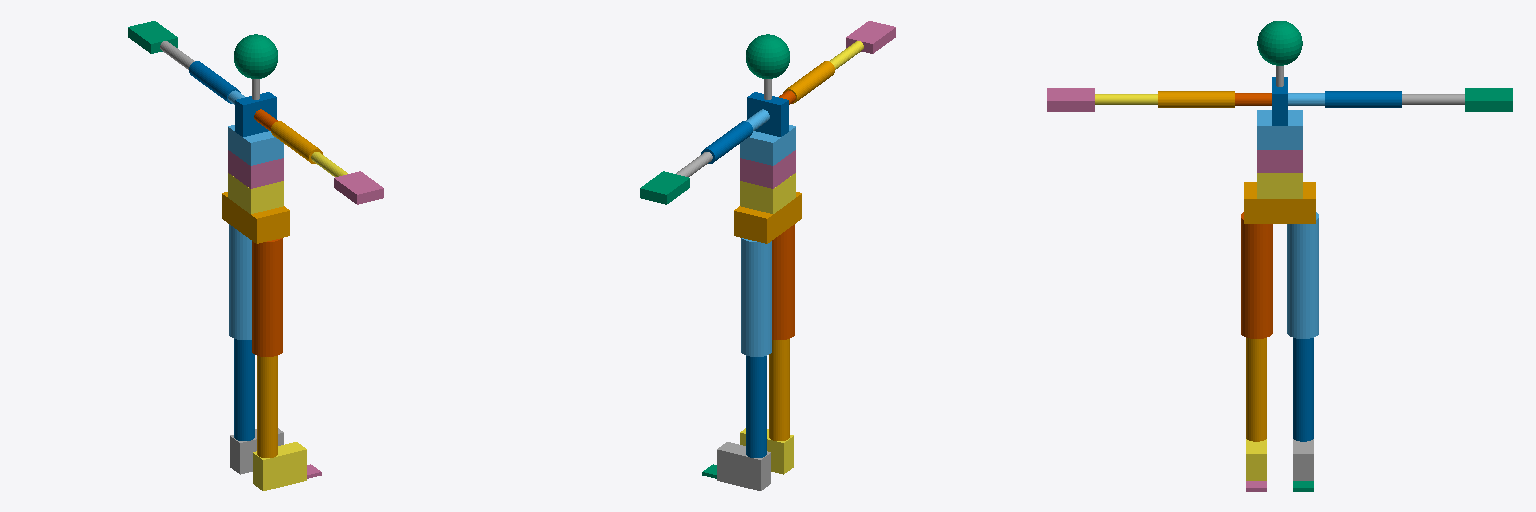
--- What the picture shows (computed from the rendered views, not written in the file) ---
Views: 3 orthographic renders of the robot side by side, from view 1: azimuth 30°, elevation 25°; view 2: azimuth 150°, elevation 25°; view 3: azimuth 270°, elevation 25°.
Model XSensStyleModel_template with 67 links and 66 joints (66 revolute), rooted at Pelvis, posed all joints at 0.
Visible links, largest first — view 1: RightUpperLeg, LeftUpperLeg, RightLowerLeg, LeftLowerLeg, RightFoot, Pelvis, Head, T12, L5, L3, T8, RightHand (+4 smaller); view 2: LeftUpperLeg, RightUpperLeg, LeftLowerLeg, RightLowerLeg, LeftFoot, Pelvis, Head, T12, L5, L3, T8, LeftHand (+4 smaller); view 3: RightUpperLeg, LeftUpperLeg, Pelvis, RightLowerLeg, LeftLowerLeg, Head, T12, RightUpperArm, LeftUpperArm, L5, RightHand, LeftHand (+6 smaller).
Link boxes in pixels (box(x1,y1,x2,y2)): RightUpperLeg: box(252, 238, 282, 356); LeftUpperLeg: box(229, 224, 251, 339); RightLowerLeg: box(257, 356, 277, 457); LeftLowerLeg: box(234, 339, 254, 440); RightFoot: box(253, 442, 306, 490); Pelvis: box(222, 192, 289, 243); Head: box(234, 34, 277, 78); T12: box(228, 125, 283, 165); L5: box(228, 173, 283, 213); L3: box(228, 150, 283, 188); T8: box(235, 92, 276, 136); RightHand: box(334, 171, 383, 204); LeftUpperLeg: box(741, 238, 771, 356); RightUpperLeg: box(772, 224, 794, 339); LeftLowerLeg: box(746, 356, 766, 457); RightLowerLeg: box(769, 339, 789, 440); LeftFoot: box(717, 442, 770, 490); Pelvis: box(734, 192, 801, 243); Head: box(746, 34, 789, 78); T12: box(740, 125, 795, 165); L5: box(740, 173, 795, 213); L3: box(740, 150, 795, 188); T8: box(747, 92, 788, 136); LeftHand: box(640, 171, 689, 204); RightUpperLeg: box(1241, 212, 1272, 338); LeftUpperLeg: box(1287, 212, 1318, 338); Pelvis: box(1244, 182, 1315, 223); RightLowerLeg: box(1246, 338, 1266, 441); LeftLowerLeg: box(1293, 338, 1313, 441); Head: box(1257, 21, 1302, 65); T12: box(1257, 110, 1302, 149); RightUpperArm: box(1158, 91, 1234, 107); LeftUpperArm: box(1325, 91, 1401, 107); L5: box(1257, 173, 1302, 198); RightHand: box(1047, 88, 1094, 111); LeftHand: box(1465, 88, 1512, 111).
Bounding box of the posed robot: 0.28 × 1.63 × 1.73 m (x, y, z).
Geometry: primitives only (box / cylinder / sphere), no mesh files.

URDF robot description (XSensStyleModel_template):
<robot name="XSensStyleModel_template">
<!--To open this model with Gazebo replace the null masses, inertias and dimensions of the 'fake links f1 and f2'-->
    <!--LINKS-->
	<!--Link base (1)-->
	<link name="Pelvis">
        <inertial>
            <mass value="4.88"/>
			<!--COM origin wrt pHipOrigin-->
            <origin xyz="0           0    0.050194" rpy="0 0 0" />
            <inertia ixx="0.029296" iyy="0.011839" izz="0.033081" ixy="0" ixz="0" iyz="0"/>
        </inertial>

        <visual>
			<!--box origin wrt pHipOrigin-->
            <origin xyz="0           0    0.050194" rpy="0 0 0" />
            <geometry>
                <box size="0.1386     0.24927    0.099515"/>
            </geometry>
        </visual>

        <collision>
			<!--box origin wrt pHipOrigin-->
            <origin xyz="0           0    0.050194" rpy="0 0 0" />
            <geometry>
                <box size="0.1386     0.24927    0.099515"/>
            </geometry>
        </collision>

    </link>
    <!--Chain from (2) to (7)-->
	<link name="L5_f1">
        <inertial>
            <mass value="0"/>
            <origin xyz="0 0 0" rpy="0 0 0" />
            <inertia ixx="0" iyy="0" izz="0" ixy="0" ixz="0" iyz="0"/>
        </inertial>
    </link>
	<link name="L5_f2">
        <inertial>
            <mass value="0"/>
            <origin xyz="0 0 0" rpy="0 0 0" />
            <inertia ixx="0" iyy="0" izz="0" ixy="0" ixz="0" iyz="0"/>
        </inertial>
    </link>
	<link name="L5">
        <inertial>
            <mass value="6.222"/>
			<!--COM origin wrt jL5S1-->
            <origin xyz="0           0     0.04987" rpy="0 0 0" />
            <inertia ixx="0.019063" iyy="0.015119" izz="0.0002671" ixy="0" ixz="0" iyz="0"/>
        </inertial>

        <visual>
			<!--box origin origin wrt jL5S1-->
            <origin xyz="0           0     0.04987" rpy="0 0 0" />
            <geometry>
                <box size="0.1386     0.16376    0.099741"/>
            </geometry>
        </visual>

        <collision>
			<!--box origin origin wrt jL5S1-->
            <origin xyz="0           0     0.04987" rpy="0 0 0" />
            <geometry>
                <box size="0.1386     0.16376    0.099741"/>
            </geometry>
        </collision>
    </link>
	<link name="L3_f1">
        <inertial>
            <mass value="0"/>
            <origin xyz="0 0 0" rpy="0 0 0" />
            <inertia ixx="0" iyy="0" izz="0" ixy="0" ixz="0" iyz="0"/>
        </inertial>
    </link>
	<link name="L3_f2">
        <inertial>
            <mass value="0"/>
            <origin xyz="0 0 0" rpy="0 0 0" />
            <inertia ixx="0" iyy="0" izz="0" ixy="0" ixz="0" iyz="0"/>
        </inertial>
    </link>
	<link name="L3">
        <inertial>
            <mass value="6.222"/>
			<!--COM origin wrt jL4L3-->
            <origin xyz="0           0    0.045056" rpy="0 0 0" />
            <inertia ixx="0.018115" iyy="0.014171" izz="0.023865" ixy="0" ixz="0" iyz="0"/>
        </inertial>

        <visual>
			<!--box origin origin wrt jL4L3-->
            <origin xyz="0           0    0.045056" rpy="0 0 0" />
            <geometry>
                <box size="0.1386     0.16376    0.090113"/>
            </geometry>
        </visual>

        <collision>
			<!--box origin origin wrt jL4L3-->
            <origin xyz="0           0    0.045056" rpy="0 0 0" />
            <geometry>
                <box size="0.1386     0.16376    0.090113"/>
            </geometry>
        </collision>
    </link>
	<link name="T12_f1">
        <inertial>
            <mass value="0"/>
            <origin xyz="0 0 0" rpy="0 0 0" />
            <inertia ixx="0" iyy="0" izz="0" ixy="0" ixz="0" iyz="0"/>
        </inertial>
    </link>
	<link name="T12_f2">
        <inertial>
            <mass value="0"/>
            <origin xyz="0 0 0" rpy="0 0 0" />
            <inertia ixx="0" iyy="0" izz="0" ixy="0" ixz="0" iyz="0"/>
        </inertial>
    </link>
	<link name="T12">
        <inertial>
            <mass value="6.222"/>
			<!--COM origin wrt jL1T12-->
            <origin xyz="0           0    0.045056" rpy="0 0 0" />
            <inertia ixx="0.018115" iyy="0.014171" izz="0.023865" ixy="0" ixz="0" iyz="0"/>
        </inertial>

        <visual>
			<!--box origin origin wrt jL1T12-->
            <origin xyz="0           0    0.045056" rpy="0 0 0" />
            <geometry>
                <box size="0.1386     0.16376    0.090113"/>
            </geometry>
        </visual>

        <collision>
			<!--box origin origin wrt jL1T12-->
            <origin xyz="0           0    0.045056" rpy="0 0 0" />
            <geometry>
                <box size="0.1386     0.16376    0.090113"/>
            </geometry>
        </collision>
    </link>
	<link name="T8_f1">
        <inertial>
            <mass value="0"/>
            <origin xyz="0 0 0" rpy="0 0 0" />
            <inertia ixx="0" iyy="0" izz="0" ixy="0" ixz="0" iyz="0"/>
        </inertial>
    </link>
	<link name="T8_f2">
        <inertial>
            <mass value="0"/>
            <origin xyz="0 0 0" rpy="0 0 0" />
            <inertia ixx="0" iyy="0" izz="0" ixy="0" ixz="0" iyz="0"/>
        </inertial>
    </link>
	<link name="T8">
        <inertial>
            <mass value="2.44"/>
			<!--COM origin wrt jT9T8-->
            <origin xyz="0           0    0.062925" rpy="0 0 0" />
            <inertia ixx="0.0038182" iyy="0.007132" izz="0.0045093" ixy="0" ixz="0" iyz="0"/>
        </inertial>

        <visual>
			<!--box origin wrt jT9T8-->
            <origin xyz="0           0    0.062925" rpy="0 0 0" />
            <geometry>
                <box size="0.1387    0.054218     0.12585"/>
            </geometry>
        </visual>

        <collision>
			<!--box origin wrt jT9T8-->
            <origin xyz="0           0    0.062925" rpy="0 0 0" />
            <geometry>
                <box size="0.1387    0.054218     0.12585"/>
            </geometry>
        </collision>

    </link>
	<link name="Neck_f1">
        <inertial>
            <mass value="0"/>
            <origin xyz="0 0 0" rpy="0 0 0" />
            <inertia ixx="0" iyy="0" izz="0" ixy="0" ixz="0" iyz="0"/>
        </inertial>
    </link>
	<link name="Neck_f2">
        <inertial>
            <mass value="0"/>
            <origin xyz="0 0 0" rpy="0 0 0" />
            <inertia ixx="0" iyy="0" izz="0" ixy="0" ixz="0" iyz="0"/>
        </inertial>
    </link>
	<link name="Neck">
        <inertial>
            <mass value="0.732"/>
			<!--COM origin wrt jT1C7-->
            <origin xyz="0           0    0.041973" rpy="0 0 0" />
            <inertia ixx="0.00056618" iyy="0.00056618" izz="0.00027264" ixy="0" ixz="0" iyz="0"/>
        </inertial>

        <visual>
			<!--box origin wrt jT1C7-->
            <origin xyz="0           0    0.041973" rpy="0 0 0" />
            <geometry>
		<cylinder length="0.083946" radius="0.013647"/>
            </geometry>
        </visual>

        <collision>
			<!--box origin wrt jT1C7-->
            <origin xyz="0           0    0.041973" rpy="0 0 0" />
            <geometry>
                <cylinder length="0.083946" radius="0.013647"/>
            </geometry>
        </collision>
    </link>
	<link name="Head_f1">
        <inertial>
            <mass value="0"/>
            <origin xyz="0 0 0" rpy="0 0 0" />
            <inertia ixx="0" iyy="0" izz="0" ixy="0" ixz="0" iyz="0"/>
        </inertial>
    </link>
	<link name="Head_f2">
        <inertial>
            <mass value="0"/>
            <origin xyz="0 0 0" rpy="0 0 0" />
            <inertia ixx="0" iyy="0" izz="0" ixy="0" ixz="0" iyz="0"/>
        </inertial>
    </link>
	<link name="Head">
        <inertial>
            <mass value="2.196"/>
			<!--COM origin wrt jC1Head-->
            <origin xyz="0           0    0.079896" rpy="0 0 0" />
            <inertia ixx="0.0056072" iyy="0.0056072" izz="0.0056072" ixy="0" ixz="0" iyz="0"/>
        </inertial>

        <visual>
			<!--boc origin wrt jC1Head-->
            <origin xyz="0           0    0.079896" rpy="0 0 0" />
            <geometry>
                <sphere radius="0.079896"/>
            </geometry>
        </visual>

        <collision>
			<!--box origin wrt jC1Head-->
            <origin xyz="0           0    0.079896" rpy="0 0 0" />
            <geometry>
                <sphere radius="0.079896"/>
            </geometry>
        </collision>

    </link>
	<!--Chain from (8) to (11)-->
	<link name="RightShoulder_f1">
        <inertial>
            <mass value="0"/>
            <origin xyz="0 0 0" rpy="0 0 0" />
            <inertia ixx="0" iyy="0" izz="0" ixy="0" ixz="0" iyz="0"/>
        </inertial>
    </link>
	<link name="RightShoulder_f2">
        <inertial>
            <mass value="0"/>
            <origin xyz="0 0 0" rpy="0 0 0" />
            <inertia ixx="0" iyy="0" izz="0" ixy="0" ixz="0" iyz="0"/>
        </inertial>
    </link>
	<link name="RightShoulder">
        <inertial>
            <mass value="1.891"/>
			<!--COM origin wrt jRightC7Shoulder-->
            <origin xyz="0   -0.064947           0" rpy="0 0 0" />
            <inertia ixx="0.0029192" iyy="0.00052075" izz="0.0029192" ixy="0" ixz="0" iyz="0"/>
        </inertial>

        <visual>
			<!--box origin wrt jRightC7Shoulder. RPY rotated of pi/2.-->
            <origin xyz="0   -0.064947           0" rpy="1.5708 0 0" />
            <geometry>
                <cylinder length="0.12989" radius="0.023468"/>
            </geometry>
        </visual>

        <collision>
			<!--box origin wrt jRightC7Shoulder. RPY rotated of pi/2.-->
            <origin xyz="0   -0.064947           0" rpy="1.5708 0 0" />
            <geometry>
                <cylinder length="0.12989" radius="0.023468"/>
            </geometry>
        </collision>

    </link>
	<link name="RightUpperArm_f1">
        <inertial>
            <mass value="0"/>
            <origin xyz="0 0 0" rpy="0 0 0" />
            <inertia ixx="0" iyy="0" izz="0" ixy="0" ixz="0" iyz="0"/>
        </inertial>
    </link>
	<link name="RightUpperArm_f2">
        <inertial>
            <mass value="0"/>
            <origin xyz="0 0 0" rpy="0 0 0" />
            <inertia ixx="0" iyy="0" izz="0" ixy="0" ixz="0" iyz="0"/>
        </inertial>
    </link>
    <link name="RightUpperArm">
        <inertial>
            <mass value="1.83"/>
			<!--COM origin wrt jRightShoulder-->
            <origin xyz="0    -0.13498           0" rpy="0 0 0" />
            <inertia ixx="0.01151" iyy="0.00079302" izz="0.01151" ixy="0" ixz="0" iyz="0"/>
        </inertial>

        <visual>
			<!--box origin wrt jRightShoulder. RPY rotated of pi/2.-->
            <origin xyz="0    -0.13498           0" rpy="1.5708 0 0" />
            <geometry>
                <cylinder length="0.26995" radius="0.02944"/>
            </geometry>
        </visual>

        <collision>
			<!--box origin wrt jRightShoulder. RPY rotated of pi/2.-->
            <origin xyz="0    -0.13498           0" rpy="1.5708 0 0" />
            <geometry>
                <cylinder length="0.26995" radius="0.02944"/>
            </geometry>
        </collision>

    </link>
	<link name="RightForeArm_f1">
        <inertial>
            <mass value="0"/>
            <origin xyz="0 0 0" rpy="0 0 0" />
            <inertia ixx="0" iyy="0" izz="0" ixy="0" ixz="0" iyz="0"/>
        </inertial>
    </link>
	<link name="RightForeArm_f2">
        <inertial>
            <mass value="0"/>
            <origin xyz="0 0 0" rpy="0 0 0" />
            <inertia ixx="0" iyy="0" izz="0" ixy="0" ixz="0" iyz="0"/>
        </inertial>
    </link>
	<link name="RightForeArm">
        <inertial>
            <mass value="1.22"/>
			<!--COM origin wrt jRightElbow-->
            <origin xyz="0    -0.11119           0" rpy="0 0 0" />
            <inertia ixx="0.0051448" iyy="0.00023497" izz="0.0051448" ixy="0" ixz="0" iyz="0"/>
        </inertial>

        <visual>
			<!--box origin wrt jRightElbow. RPY rotated of pi/2.-->
            <origin xyz="0    -0.11119           0" rpy="1.5708 0 0" />
            <geometry>
                <cylinder length="0.22237" radius="0.019626"/>
            </geometry>
        </visual>

        <collision>
			<!--box origin wrt jRightElbow. RPY rotated of pi/2.-->
            <origin xyz="0    -0.11119           0" rpy="1.5708 0 0" />
            <geometry>
                <cylinder length="0.22237" radius="0.019626"/>
            </geometry>
        </collision>

    </link>
	<link name="RightHand_f1">
        <inertial>
            <mass value="0"/>
            <origin xyz="0 0 0" rpy="0 0 0" />
            <inertia ixx="0" iyy="0" izz="0" ixy="0" ixz="0" iyz="0"/>
        </inertial>
    </link>
	<link name="RightHand_f2">
        <inertial>
            <mass value="0"/>
            <origin xyz="0 0 0" rpy="0 0 0" />
            <inertia ixx="0" iyy="0" izz="0" ixy="0" ixz="0" iyz="0"/>
        </inertial>
    </link>
	<link name="RightHand">
        <inertial>
            <mass value="0.366"/>
			<!--COM origin wrt jRightWrist-->
            <origin xyz="0   -0.083494           0" rpy="0 0 0" />
            <inertia ixx="0.0008975" iyy="0.00042499" izz="0.0012285" ixy="0" ixz="0" iyz="0"/>
        </inertial>

        <visual>
			<!--box origin wrt jRightWrist-->
            <origin xyz="0   -0.083494           0" rpy="0 0 0" />
            <geometry>
                <box size="0.11133     0.16699    0.039253"/>
            </geometry>
        </visual>

        <collision>
			<!--box origin wrt jRightWrist-->
            <origin xyz="0   -0.083494           0" rpy="0 0 0" />
            <geometry>
                <box size="0.11133     0.16699    0.039253"/>
            </geometry>
        </collision>

    </link>
	<!--Chain from (12) to (15)-->
	<link name="LeftShoulder_f1">
        <inertial>
            <mass value="0"/>
            <origin xyz="0 0 0" rpy="0 0 0" />
            <inertia ixx="0" iyy="0" izz="0" ixy="0" ixz="0" iyz="0"/>
        </inertial>
    </link>
	<link name="LeftShoulder_f2">
        <inertial>
            <mass value="0"/>
            <origin xyz="0 0 0" rpy="0 0 0" />
            <inertia ixx="0" iyy="0" izz="0" ixy="0" ixz="0" iyz="0"/>
        </inertial>
    </link>
	<link name="LeftShoulder">
        <inertial>
            <mass value="1.891"/>
			<!--COM origin wrt jLeftC7Shoulder-->
            <origin xyz="0    0.064947           0" rpy="0 0 0" />
            <inertia ixx="0.0029192" iyy="0.00052075" izz="0.0029192" ixy="0" ixz="0" iyz="0"/>
        </inertial>

        <visual>
			<!--box origin wrt jLeftC7Shoulder. RPY rotated of pi/2.-->
            <origin xyz="0    0.064947           0" rpy="1.5708 0 0" />
            <geometry>
                <cylinder length="0.12989" radius="0.023468"/>
            </geometry>
        </visual>

        <collision>
			<!--box origin wrt jLeftC7Shoulder. RPY rotated of pi/2.-->
            <origin xyz="0    0.064947           0" rpy="1.5708 0 0" />
            <geometry>
                <cylinder length="0.12989" radius="0.023468"/>
            </geometry>
        </collision>

    </link>
	<link name="LeftUpperArm_f1">
        <inertial>
            <mass value="0"/>
            <origin xyz="0 0 0" rpy="0 0 0" />
            <inertia ixx="0" iyy="0" izz="0" ixy="0" ixz="0" iyz="0"/>
        </inertial>
    </link>
	<link name="LeftUpperArm_f2">
        <inertial>
            <mass value="0"/>
            <origin xyz="0 0 0" rpy="0 0 0" />
            <inertia ixx="0" iyy="0" izz="0" ixy="0" ixz="0" iyz="0"/>
        </inertial>
    </link>
	<link name="LeftUpperArm">
        <inertial>
            <mass value="1.83"/>
			<!--COM origin wrt jLeftShoulder-->
            <origin xyz="0     0.13498           0" rpy="0 0 0" />
            <inertia ixx="0.01151" iyy="0.00079302" izz="0.01151" ixy="0" ixz="0" iyz="0"/>
        </inertial>

        <visual>
			<!--box origin wrt jLeftShoulder. RPY rotated of pi/2.-->
            <origin xyz="0     0.13498           0" rpy="1.5708 0 0" />
            <geometry>
                <cylinder length="0.26995" radius="0.02944"/>
            </geometry>
        </visual>

        <collision>
			<!--box origin wrt jLeftShoulder. RPY rotated of pi/2.-->
            <origin xyz="0     0.13498           0" rpy="1.5708 0 0" />
            <geometry>
                <cylinder length="0.26995" radius="0.02944"/>
            </geometry>
        </collision>

    </link>
	<link name="LeftForeArm_f1">
        <inertial>
            <mass value="0"/>
            <origin xyz="0 0 0" rpy="0 0 0" />
            <inertia ixx="0" iyy="0" izz="0" ixy="0" ixz="0" iyz="0"/>
        </inertial>
    </link>
	<link name="LeftForeArm_f2">
        <inertial>
            <mass value="0"/>
            <origin xyz="0 0 0" rpy="0 0 0" />
            <inertia ixx="0" iyy="0" izz="0" ixy="0" ixz="0" iyz="0"/>
        </inertial>
    </link>
	<link name="LeftForeArm">
        <inertial>
            <mass value="1.22"/>
			<!--COM origin wrt jLeftElbow-->
            <origin xyz="0     0.11119           0" rpy="0 0 0" />
            <inertia ixx="0.0051448" iyy="0.00023497" izz="0.0051448" ixy="0" ixz="0" iyz="0"/>
        </inertial>

        <visual>
			<!--box origin wrt jLeftElbow. RPY rotated of pi/2.-->
            <origin xyz="0     0.11119           0" rpy="1.5708 0 0" />
            <geometry>
                <cylinder length="0.22237" radius="0.019626"/>
            </geometry>
        </visual>

        <collision>
			<!--box origin wrt jLeftElbow. RPY rotated of pi/2.-->
            <origin xyz="0     0.11119           0" rpy="1.5708 0 0" />
            <geometry>
                <cylinder length="0.22237" radius="0.019626"/>
            </geometry>
        </collision>

    </link>
	<link name="LeftHand_f1">
        <inertial>
            <mass value="0"/>
            <origin xyz="0 0 0" rpy="0 0 0" />
            <inertia ixx="0" iyy="0" izz="0" ixy="0" ixz="0" iyz="0"/>
        </inertial>
    </link>
	<link name="LeftHand_f2">
        <inertial>
            <mass value="0"/>
            <origin xyz="0 0 0" rpy="0 0 0" />
            <inertia ixx="0" iyy="0" izz="0" ixy="0" ixz="0" iyz="0"/>
        </inertial>
    </link>
	<link name="LeftHand">
        <inertial>
            <mass value="0.366"/>
			<!--COM origin wrt jLeftWrist-->
            <origin xyz="0    0.083494           0" rpy="0 0 0" />
            <inertia ixx="0.0008975" iyy="0.00042499" izz="0.0012285" ixy="0" ixz="0" iyz="0"/>
        </inertial>

        <visual>
			<!--COM origin wrt jLeftWrist-->
            <origin xyz="0    0.083494           0" rpy="0 0 0" />
            <geometry>
                <box size="0.11133     0.16699    0.039253"/>
            </geometry>
        </visual>

        <collision>
			<!--COM origin wrt jLeftWrist-->
            <origin xyz="0    0.083494           0" rpy="0 0 0" />
            <geometry>
                <box size="0.11133     0.16699    0.039253"/>
            </geometry>
        </collision>

    </link>
	<!--Chain from (16) to (19)-->
	<link name="RightUpperLeg_f1">
        <inertial>
            <mass value="0"/>
            <origin xyz="0 0 0" rpy="0 0 0" />
            <inertia ixx="0" iyy="0" izz="0" ixy="0" ixz="0" iyz="0"/>
        </inertial>
    </link>
	<link name="RightUpperLeg_f2">
        <inertial>
            <mass value="0"/>
            <origin xyz="0 0 0" rpy="0 0 0" />
            <inertia ixx="0" iyy="0" izz="0" ixy="0" ixz="0" iyz="0"/>
        </inertial>
    </link>
    <link name="RightUpperLeg">
        <inertial>
            <mass value="7.625"/>
			<!--COM origin wrt jRightHip-->
            <origin xyz="0           0    -0.22557" rpy="0 0 0" />
            <inertia ixx="0.13545" iyy="0.13545" izz="0.012254" ixy="0" ixz="0" iyz="0"/>
        </inertial>

        <visual>
			<!--box origin wrt jRightHip-->
            <origin xyz="0           0    -0.22557" rpy="0 0 0" />
            <geometry>
                <cylinder length="0.45113" radius="0.056694"/>
            </geometry>
        </visual>

        <collision>
			<!--box origin wrt jRightHip-->
            <origin xyz="0           0    -0.22557" rpy="0 0 0" />
            <geometry>
                <cylinder length="0.45113" radius="0.056694"/>
            </geometry>
        </collision>

    </link>
	<link name="RightLowerLeg_f1">
        <inertial>
            <mass value="0"/>
            <origin xyz="0 0 0" rpy="0 0 0" />
            <inertia ixx="0" iyy="0" izz="0" ixy="0" ixz="0" iyz="0"/>
        </inertial>
    </link>
	<link name="RightLowerLeg_f2">
        <inertial>
            <mass value="0"/>
            <origin xyz="0 0 0" rpy="0 0 0" />
            <inertia ixx="0" iyy="0" izz="0" ixy="0" ixz="0" iyz="0"/>
        </inertial>
    </link>
    <link name="RightLowerLeg">
        <inertial>
            <mass value="2.2265"/>
			<!--COM origin wrt jRightKnee-->
            <origin xyz="0           0    -0.20314" rpy="0 0 0" />
            <inertia ixx="0.031404" iyy="0.031404" izz="0.001557" ixy="0" ixz="0" iyz="0"/>
        </inertial>

        <visual>
			<!--box origin wrt jRightKnee-->
            <origin xyz="0           0    -0.20314" rpy="0 0 0" />
            <geometry>
                <cylinder length="0.40628" radius="0.037398"/>
            </geometry>
        </visual>

        <collision>
			<!--box origin wrt jRightKnee-->
            <origin xyz="0           0    -0.20314" rpy="0 0 0" />
            <geometry>
                <cylinder length="0.40628" radius="0.037398"/>
            </geometry>
        </collision>

    </link>
	<link name="RightFoot_f1">
        <inertial>
            <mass value="0"/>
            <origin xyz="0 0 0" rpy="0 0 0" />
            <inertia ixx="0" iyy="0" izz="0" ixy="0" ixz="0" iyz="0"/>
        </inertial>
    </link>
	<link name="RightFoot_f2">
        <inertial>
            <mass value="0"/>
            <origin xyz="0 0 0" rpy="0 0 0" />
            <inertia ixx="0" iyy="0" izz="0" ixy="0" ixz="0" iyz="0"/>
        </inertial>
    </link>
    <link name="RightFoot">
        <inertial>
            <mass value="0.793"/>
			<!--COM origin wrt jRightAnkle-->
            <origin xyz="0.050643           0   -0.061735" rpy="0 0 0" />
            <inertia ixx="0.0013771" iyy="0.00317" izz="0.0025323" ixy="0" ixz="0" iyz="0"/>
        </inertial>

        <visual>
			<!--box origin wrt jRightAnkle-->
	    	<origin xyz="0.050643           0   -0.061735" rpy="0 0 0" />
            <geometry>
                <box size="0.1809    0.074795     0.12347"/>
            </geometry>
        </visual>

        <collision>
			<!--box origin wrt jRightAnkle-->
		    <origin xyz="0.050643           0   -0.061735" rpy="0 0 0" />
	            <geometry>
	                <box size="0.1809    0.074795     0.12347"/>
	            </geometry>
        </collision>

    </link>
	<link name="RightToe_f1">
        <inertial>
            <mass value="0"/>
            <origin xyz="0 0 0" rpy="0 0 0" />
            <inertia ixx="0" iyy="0" izz="0" ixy="0" ixz="0" iyz="0"/>
        </inertial>
    </link>
	<link name="RightToe_f2">
        <inertial>
            <mass value="0"/>
            <origin xyz="0 0 0" rpy="0 0 0" />
            <inertia ixx="0" iyy="0" izz="0" ixy="0" ixz="0" iyz="0"/>
        </inertial>
    </link>
    <link name="RightToe">
        <inertial>
            <mass value="0.0915"/>
			<!--COM origin wrt jRightBallFoot-->
            <origin xyz="0.029551           0           0" rpy="0 0 0" />
            <inertia ixx="4.419e-05" iyy="2.8167e-05" izz="6.929e-05" ixy="0" ixz="0" iyz="0"/>
        </inertial>

        <visual>
			<!--box origin wrt jRightBallFoot-->
            <origin xyz="0.029551           0           0" rpy="0 0 0" />
            <geometry>
                <box size="0.059101    0.074795    0.014183"/>
            </geometry>
        </visual>

        <collision>
			<!--box origin wrt jRightBallFoot-->
            <origin xyz="0.029551           0           0" rpy="0 0 0" />
            <geometry>
                <box size="0.059101    0.074795    0.014183"/>
            </geometry>
        </collision>
    </link>
	<!--Chain from (20) to (23)-->
	<link name="LeftUpperLeg_f1">
        <inertial>
            <mass value="0"/>
            <origin xyz="0 0 0" rpy="0 0 0" />
            <inertia ixx="0" iyy="0" izz="0" ixy="0" ixz="0" iyz="0"/>
        </inertial>
    </link>
	<link name="LeftUpperLeg_f2">
        <inertial>
            <mass value="0"/>
            <origin xyz="0 0 0" rpy="0 0 0" />
            <inertia ixx="0" iyy="0" izz="0" ixy="0" ixz="0" iyz="0"/>
        </inertial>
    </link>
    <link name="LeftUpperLeg">
        <inertial>
            <mass value="7.625"/>
			<!--COM origin wrt jLeftHip-->
            <origin xyz="0           0    -0.22557" rpy="0 0 0" />
            <inertia ixx="0.13545" iyy="0.13545" izz="0.012254" ixy="0" ixz="0" iyz="0"/>
        </inertial>

        <visual>
			<!--box origin wrt jLeftHip-->
            <origin xyz="0           0    -0.22557" rpy="0 0 0" />
            <geometry>
                <cylinder length="0.45113" radius="-0.056694"/>
            </geometry>
        </visual>

        <collision>
			<!--box origin wrt jLeftHip-->
            <origin xyz="0           0    -0.22557" rpy="0 0 0" />
            <geometry>
                <cylinder length="0.45113" radius="-0.056694"/>
            </geometry>
        </collision>

    </link>
	<link name="LeftLowerLeg_f1">
        <inertial>
            <mass value="0"/>
            <origin xyz="0 0 0" rpy="0 0 0" />
            <inertia ixx="0" iyy="0" izz="0" ixy="0" ixz="0" iyz="0"/>
        </inertial>
    </link>
	<link name="LeftLowerLeg_f2">
        <inertial>
            <mass value="0"/>
            <origin xyz="0 0 0" rpy="0 0 0" />
            <inertia ixx="0" iyy="0" izz="0" ixy="0" ixz="0" iyz="0"/>
        </inertial>
    </link>
	<link name="LeftLowerLeg">
        <inertial>
            <mass value="2.2265"/>
			<!--COM origin wrt jLeftKnee-->
            <origin xyz="0           0    -0.20314" rpy="0 0 0" />
            <inertia ixx="0.031404" iyy="0.031404" izz="0.001557" ixy="0" ixz="0" iyz="0"/>
        </inertial>

        <visual>
			<!--box origin wrt jLeftKnee-->
            <origin xyz="0           0    -0.20314" rpy="0 0 0" />
            <geometry>
		<cylinder length="0.40628" radius="0.037398"/>
            </geometry>
        </visual>

        <collision>
			<!--box origin wrt jLeftKnee-->
            <origin xyz="0           0    -0.20314" rpy="0 0 0" />
            <geometry>
		<cylinder length="0.40628" radius="0.037398"/>
            </geometry>
        </collision>

    </link>
	<link name="LeftFoot_f1">
        <inertial>
            <mass value="0"/>
            <origin xyz="0 0 0" rpy="0 0 0" />
            <inertia ixx="0" iyy="0" izz="0" ixy="0" ixz="0" iyz="0"/>
        </inertial>
    </link>
	<link name="LeftFoot_f2">
        <inertial>
            <mass value="0"/>
            <origin xyz="0 0 0" rpy="0 0 0" />
            <inertia ixx="0" iyy="0" izz="0" ixy="0" ixz="0" iyz="0"/>
        </inertial>
    </link>
    <link name="LeftFoot">
        <inertial>
            <mass value="0.793"/>
			<!--COM origin wrt jLeftAnkle-->
            <origin xyz="0.050643           0   -0.061735" rpy="0 0 0" />
            <inertia ixx="0.0013771" iyy="0.00317" izz="0.0025323" ixy="0" ixz="0" iyz="0"/>
        </inertial>

        <visual>
			<!--box origin wrt jLeftAnkle-->
	   	 	<origin xyz="0.050643           0   -0.061735" rpy="0 0 0" />
            <geometry>
                <box size="0.1809    0.074795     0.12347"/>
            </geometry>
        </visual>

        <collision>
			<!--box origin wrt jLeftAnkle-->
		    <origin xyz="0.050643           0   -0.061735" rpy="0 0 0" />
	            <geometry>
	                <box size="0.1809    0.074795     0.12347"/>
	            </geometry>
        </collision>

    </link>
	<link name="LeftToe_f1">
        <inertial>
            <mass value="0"/>
            <origin xyz="0 0 0" rpy="0 0 0" />
            <inertia ixx="0" iyy="0" izz="0" ixy="0" ixz="0" iyz="0"/>
        </inertial>
    </link>
	<link name="LeftToe_f2">
        <inertial>
            <mass value="0"/>
            <origin xyz="0 0 0" rpy="0 0 0" />
            <inertia ixx="0" iyy="0" izz="0" ixy="0" ixz="0" iyz="0"/>
        </inertial>
    </link>
	<link name="LeftToe">
        <inertial>
            <mass value="0.0915"/>
			<!--COM origin wrt jLeftBallFoot-->
            <origin xyz="0.029551           0           0" rpy="0 0 0" />
            <inertia ixx="4.419e-05" iyy="2.8167e-05" izz="6.929e-05" ixy="0" ixz="0" iyz="0"/>
        </inertial>

        <visual>
			<!--box origin wrt jLeftBallFoot-->
            <origin xyz="0.029551           0           0" rpy="0 0 0" />
            <geometry>
                <box size="0.059101    0.074795    0.014183"/>
            </geometry>
        </visual>

        <collision>
			<!--box origin wrt jLeftBallFoot-->
            <origin xyz="0.029551           0           0" rpy="0 0 0" />
            <geometry>
                <box size="0.059101    0.074795    0.014183"/>
            </geometry>
        </collision>
    </link>


	<!--JOINTS-->
	<!--Chain from (2) to (7)-->
	<joint name="jL5S1_rotx" type="revolute">
        <origin xyz="-8.9e-05           0    0.099951" rpy="0 0 0"/>
        <parent link="Pelvis"/>
        <child link="L5_f1"/>
        <dynamics damping="0.1" friction="0.0"/>
        <limit effort="30" velocity="1.0" lower="-10.0" upper="10.0" />
        <axis xyz="1 0 0" />
    </joint>
	<joint name="jL5S1_roty" type="revolute">
        <origin xyz="0 0 0" rpy="0 0 0"/>
        <parent link="L5_f1"/>
        <child link="L5_f2"/>
        <dynamics damping="0.1" friction="0.0"/>
        <limit effort="30" velocity="1.0" lower="-10.0" upper="10.0" />
        <axis xyz="0 1 0" />
    </joint>
    <joint name="jL5S1_rotz" type="revolute">
        <origin xyz="0 0 0" rpy="0 0 0"/>
        <parent link="L5_f2"/>
        <child link="L5"/>
        <dynamics damping="0.1" friction="0.0"/>
        <limit effort="30" velocity="1.0" lower="-10.0" upper="10.0" />
        <axis xyz="0 0 1" />
    </joint>
	<joint name="jL4L3_rotx" type="revolute">
        <origin xyz="0.000162           0    0.099741" rpy="0 0 0"/>
        <parent link="L5"/>
        <child link="L3_f1"/>
        <dynamics damping="0.1" friction="0.0"/>
        <limit effort="30" velocity="1.0" lower="-10.0" upper="10.0" />
        <axis xyz="1 0 0" />
    </joint>
	<joint name="jL4L3_roty" type="revolute">
        <origin xyz="0 0 0" rpy="0 0 0"/>
        <parent link="L3_f1"/>
        <child link="L3_f2"/>
        <dynamics damping="0.1" friction="0.0"/>
        <limit effort="30" velocity="1.0" lower="-10.0" upper="10.0" />
        <axis xyz="0 1 0" />
    </joint>
    <joint name="jL4L3_rotz" type="revolute">
        <origin xyz="0 0 0" rpy="0 0 0"/>
        <parent link="L3_f2"/>
        <child link="L3"/>
        <dynamics damping="0.1" friction="0.0"/>
        <limit effort="30" velocity="1.0" lower="-10.0" upper="10.0" />
        <axis xyz="0 0 1" />
    </joint>
	<joint name="jL1T12_rotx" type="revolute">
        <origin xyz="0           0    0.090113" rpy="0 0 0"/>
        <parent link="L3"/>
        <child link="T12_f1"/>
        <dynamics damping="0.1" friction="0.0"/>
        <limit effort="30" velocity="1.0" lower="-10.0" upper="10.0" />
        <axis xyz="1 0 0" />
    </joint>
	<joint name="jL1T12_roty" type="revolute">
        <origin xyz="0 0 0" rpy="0 0 0"/>
        <parent link="T12_f1"/>
        <child link="T12_f2"/>
        <dynamics damping="0.1" friction="0.0"/>
        <limit effort="30" velocity="1.0" lower="-10.0" upper="10.0" />
        <axis xyz="0 1 0" />
    </joint>
    <joint name="jL1T12_rotz" type="revolute">
        <origin xyz="0 0 0" rpy="0 0 0"/>
        <parent link="T12_f2"/>
        <child link="T12"/>
        <dynamics damping="0.1" friction="0.0"/>
        <limit effort="30" velocity="1.0" lower="-10.0" upper="10.0" />
        <axis xyz="0 0 1" />
    </joint>
	<joint name="jT9T8_rotx" type="revolute">
        <origin xyz="0           0    0.090113" rpy="0 0 0"/>
        <parent link="T12"/>
        <child link="T8_f1"/>
        <dynamics damping="0.1" friction="0.0"/>
        <limit effort="30" velocity="1.0" lower="-10.0" upper="10.0" />
        <axis xyz="1 0 0" />
    </joint>
	<joint name="jT9T8_roty" type="revolute">
        <origin xyz="0 0 0" rpy="0 0 0"/>
        <parent link="T8_f1"/>
        <child link="T8_f2"/>
        <dynamics damping="0.1" friction="0.0"/>
        <limit effort="30" velocity="1.0" lower="-10.0" upper="10.0" />
        <axis xyz="0 1 0" />
    </joint>
    <joint name="jT9T8_rotz" type="revolute">
        <origin xyz="0 0 0" rpy="0 0 0"/>
        <parent link="T8_f2"/>
        <child link="T8"/>
        <dynamics damping="0.1" friction="0.0"/>
        <limit effort="30" velocity="1.0" lower="-10.0" upper="10.0" />
        <axis xyz="0 0 1" />
    </joint>
	<joint name="jT1C7_rotx" type="revolute">
        <origin xyz="0           0     0.12585" rpy="0 0 0"/>
        <parent link="T8"/>
        <child link="Neck_f1"/>
        <dynamics damping="0.1" friction="0.0"/>
        <limit effort="30" velocity="1.0" lower="-10.0" upper="10.0" />
        <axis xyz="1 0 0" />
    </joint>
	<joint name="jT1C7_roty" type="revolute">
        <origin xyz="0 0 0" rpy="0 0 0"/>
        <parent link="Neck_f1"/>
        <child link="Neck_f2"/>
        <dynamics damping="0.1" friction="0.0"/>
        <limit effort="30" velocity="1.0" lower="-10.0" upper="10.0" />
        <axis xyz="0 1 0" />
    </joint>
    <joint name="jT1C7_rotz" type="revolute">
        <origin xyz="0 0 0" rpy="0 0 0"/>
        <parent link="Neck_f2"/>
        <child link="Neck"/>
        <dynamics damping="0.1" friction="0.0"/>
        <limit effort="30" velocity="1.0" lower="-10.0" upper="10.0" />
        <axis xyz="0 0 1" />
    </joint>
	<joint name="jC1Head_rotx" type="revolute">
        <origin xyz="0.000384           0    0.083946" rpy="0 0 0"/>
        <parent link="Neck"/>
        <child link="Head_f1"/>
        <dynamics damping="0.1" friction="0.0"/>
        <limit effort="30" velocity="1.0" lower="-10.0" upper="10.0" />
        <axis xyz="1 0 0" />
    </joint>
	<joint name="jC1Head_roty" type="revolute">
        <origin xyz="0 0 0" rpy="0 0 0"/>
        <parent link="Head_f1"/>
        <child link="Head_f2"/>
        <dynamics damping="0.1" friction="0.0"/>
        <limit effort="30" velocity="1.0" lower="-10.0" upper="10.0" />
        <axis xyz="0 1 0" />
    </joint>
    <joint name="jC1Head_rotz" type="revolute">
        <origin xyz="0 0 0" rpy="0 0 0"/>
        <parent link="Head_f2"/>
        <child link="Head"/>
        <dynamics damping="0.1" friction="0.0"/>
        <limit effort="30" velocity="1.0" lower="-10.0" upper="10.0" />
        <axis xyz="0 0 1" />
    </joint>
	<!--Chain from (8) to (11)-->
	<joint name="jRightC7Shoulder_rotx" type="revolute">
        <origin xyz="0   -0.027109    0.070322" rpy="0 0 0"/>
        <parent link="T8"/>
        <child link="RightShoulder_f1"/>
        <dynamics damping="0.1" friction="0.0"/>
        <limit effort="30" velocity="1.0" lower="-10.0" upper="10.0" />
        <axis xyz="1 0 0" />
    </joint>
	<joint name="jRightC7Shoulder_roty" type="revolute">
        <origin xyz="0 0 0" rpy="0 0 0"/>
        <parent link="RightShoulder_f1"/>
        <child link="RightShoulder_f2"/>
        <dynamics damping="0.1" friction="0.0"/>
        <limit effort="30" velocity="1.0" lower="-10.0" upper="10.0" />
        <axis xyz="0 1 0" />
    </joint>
    <joint name="jRightC7Shoulder_rotz" type="revolute">
        <origin xyz="0 0 0" rpy="0 0 0"/>
        <parent link="RightShoulder_f2"/>
        <child link="RightShoulder"/>
        <dynamics damping="0.1" friction="0.0"/>
        <limit effort="30" velocity="1.0" lower="-10.0" upper="10.0" />
        <axis xyz="0 0 1" />
    </joint>
	<joint name="jRightShoulder_rotx" type="revolute">
        <origin xyz="0    -0.12989           0" rpy="0 0 0"/>
        <parent link="RightShoulder"/>
        <child link="RightUpperArm_f1"/>
        <dynamics damping="0.1" friction="0.0"/>
        <limit effort="30" velocity="1.0" lower="-10.0" upper="10.0" />
        <axis xyz="1 0 0" />
    </joint>
	<joint name="jRightShoulder_roty" type="revolute">
        <origin xyz="0 0 0" rpy="0 0 0"/>
        <parent link="RightUpperArm_f1"/>
        <child link="RightUpperArm_f2"/>
        <dynamics damping="0.1" friction="0.0"/>
        <limit effort="30" velocity="1.0" lower="-10.0" upper="10.0" />
        <axis xyz="0 1 0" />
    </joint>
    <joint name="jRightShoulder_rotz" type="revolute">
        <origin xyz="0 0 0" rpy="0 0 0"/>
        <parent link="RightUpperArm_f2"/>
        <child link="RightUpperArm"/>
        <dynamics damping="0.1" friction="0.0"/>
        <limit effort="30" velocity="1.0" lower="-10.0" upper="10.0" />
        <axis xyz="0 0 1" />
    </joint>
	<joint name="jRightElbow_rotx" type="revolute">
        <origin xyz="0    -0.26995           0" rpy="0 0 0"/>
        <parent link="RightUpperArm"/>
        <child link="RightForeArm_f1"/>
        <dynamics damping="0.1" friction="0.0"/>
        <limit effort="30" velocity="1.0" lower="-10.0" upper="10.0" />
        <axis xyz="1 0 0" />
    </joint>
	<joint name="jRightElbow_roty" type="revolute">
        <origin xyz="0 0 0" rpy="0 0 0"/>
        <parent link="RightForeArm_f1"/>
        <child link="RightForeArm_f2"/>
        <dynamics damping="0.1" friction="0.0"/>
        <limit effort="30" velocity="1.0" lower="-10.0" upper="10.0" />
        <axis xyz="0 1 0" />
    </joint>
    <joint name="jRightElbow_rotz" type="revolute">
        <origin xyz="0 0 0" rpy="0 0 0"/>
        <parent link="RightForeArm_f2"/>
        <child link="RightForeArm"/>
        <dynamics damping="0.1" friction="0.0"/>
        <limit effort="30" velocity="1.0" lower="-10.0" upper="10.0" />
        <axis xyz="0 0 1" />
    </joint>
	<joint name="jRightWrist_rotx" type="revolute">
        <origin xyz="7.3e-05    -0.22237           0" rpy="0 0 0"/>
        <parent link="RightForeArm"/>
        <child link="RightHand_f1"/>
        <dynamics damping="0.1" friction="0.0"/>
        <limit effort="30" velocity="1.0" lower="-10.0" upper="10.0" />
        <axis xyz="1 0 0" />
    </joint>
	<joint name="jRightWrist_roty" type="revolute">
        <origin xyz="0 0 0" rpy="0 0 0"/>
        <parent link="RightHand_f1"/>
        <child link="RightHand_f2"/>
        <dynamics damping="0.1" friction="0.0"/>
        <limit effort="30" velocity="1.0" lower="-10.0" upper="10.0" />
        <axis xyz="0 1 0" />
    </joint>
    <joint name="jRightWrist_rotz" type="revolute">
        <origin xyz="0 0 0" rpy="0 0 0"/>
        <parent link="RightHand_f2"/>
        <child link="RightHand"/>
        <dynamics damping="0.1" friction="0.0"/>
        <limit effort="30" velocity="1.0" lower="-10.0" upper="10.0" />
        <axis xyz="0 0 1" />
    </joint>
	<!--Chain from (12) to (15)-->
	<joint name="jLeftC7Shoulder_rotx" type="revolute">
        <origin xyz="0    0.027109    0.070322" rpy="0 0 0"/>
        <parent link="T8"/>
        <child link="LeftShoulder_f1"/>
        <dynamics damping="0.1" friction="0.0"/>
        <limit effort="30" velocity="1.0" lower="-10.0" upper="10.0" />
        <axis xyz="1 0 0" />
    </joint>
	<joint name="jLeftC7Shoulder_roty" type="revolute">
        <origin xyz="0 0 0" rpy="0 0 0"/>
        <parent link="LeftShoulder_f1"/>
        <child link="LeftShoulder_f2"/>
        <dynamics damping="0.1" friction="0.0"/>
        <limit effort="30" velocity="1.0" lower="-10.0" upper="10.0" />
        <axis xyz="0 1 0" />
    </joint>
    <joint name="jLeftC7Shoulder_rotz" type="revolute">
        <origin xyz="0 0 0" rpy="0 0 0"/>
        <parent link="LeftShoulder_f2"/>
        <child link="LeftShoulder"/>
        <dynamics damping="0.1" friction="0.0"/>
        <limit effort="30" velocity="1.0" lower="-10.0" upper="10.0" />
        <axis xyz="0 0 1" />
    </joint>
	<joint name="jLeftShoulder_rotx" type="revolute">
        <origin xyz="0     0.12989           0" rpy="0 0 0"/>
        <parent link="LeftShoulder"/>
        <child link="LeftUpperArm_f1"/>
        <dynamics damping="0.1" friction="0.0"/>
        <limit effort="30" velocity="1.0" lower="-10.0" upper="10.0" />
        <axis xyz="1 0 0" />
    </joint>
	<joint name="jLeftShoulder_roty" type="revolute">
        <origin xyz="0 0 0" rpy="0 0 0"/>
        <parent link="LeftUpperArm_f1"/>
        <child link="LeftUpperArm_f2"/>
        <dynamics damping="0.1" friction="0.0"/>
        <limit effort="30" velocity="1.0" lower="-10.0" upper="10.0" />
        <axis xyz="0 1 0" />
    </joint>
    <joint name="jLeftShoulder_rotz" type="revolute">
        <origin xyz="0 0 0" rpy="0 0 0"/>
        <parent link="LeftUpperArm_f2"/>
        <child link="LeftUpperArm"/>
        <dynamics damping="0.1" friction="0.0"/>
        <limit effort="30" velocity="1.0" lower="-10.0" upper="10.0" />
        <axis xyz="0 0 1" />
    </joint>
    <joint name="jLeftElbow_rotx" type="revolute">
        <origin xyz="0     0.26995           0" rpy="0 0 0"/>
        <parent link="LeftUpperArm"/>
        <child link="LeftForeArm_f1"/>
        <dynamics damping="0.1" friction="0.0"/>
        <limit effort="30" velocity="1.0" lower="-10.0" upper="10.0" />
        <axis xyz="1 0 0" />
    </joint>
	<joint name="jLeftElbow_roty" type="revolute">
        <origin xyz="0 0 0" rpy="0 0 0"/>
        <parent link="LeftForeArm_f1"/>
        <child link="LeftForeArm_f2"/>
        <dynamics damping="0.1" friction="0.0"/>
        <limit effort="30" velocity="1.0" lower="-10.0" upper="10.0" />
        <axis xyz="0 1 0" />
    </joint>
    <joint name="jLeftElbow_rotz" type="revolute">
        <origin xyz="0 0 0" rpy="0 0 0"/>
        <parent link="LeftForeArm_f2"/>
        <child link="LeftForeArm"/>
        <dynamics damping="0.1" friction="0.0"/>
        <limit effort="30" velocity="1.0" lower="-10.0" upper="10.0" />
        <axis xyz="0 0 1" />
    </joint>
	<joint name="jLeftWrist_rotx" type="revolute">
        <origin xyz="7.3e-05     0.22237           0" rpy="0 0 0"/>
        <parent link="LeftForeArm"/>
        <child link="LeftHand_f1"/>
        <dynamics damping="0.1" friction="0.0"/>
        <limit effort="30" velocity="1.0" lower="-10.0" upper="10.0" />
        <axis xyz="1 0 0" />
    </joint>
	<joint name="jLeftWrist_roty" type="revolute">
        <origin xyz="0 0 0" rpy="0 0 0"/>
        <parent link="LeftHand_f1"/>
        <child link="LeftHand_f2"/>
        <dynamics damping="0.1" friction="0.0"/>
        <limit effort="30" velocity="1.0" lower="-10.0" upper="10.0" />
        <axis xyz="0 1 0" />
    </joint>
    <joint name="jLeftWrist_rotz" type="revolute">
        <origin xyz="0 0 0" rpy="0 0 0"/>
        <parent link="LeftHand_f2"/>
        <child link="LeftHand"/>
        <dynamics damping="0.1" friction="0.0"/>
        <limit effort="30" velocity="1.0" lower="-10.0" upper="10.0" />
        <axis xyz="0 0 1" />
    </joint>
	<!--Chain from (16) to (19)-->
	<joint name="jRightHip_rotx" type="revolute">
        <origin xyz="4.4e-05   -0.081879    0.000436" rpy="0 0 0"/>
        <parent link="Pelvis"/>
        <child link="RightUpperLeg_f1"/>
        <dynamics damping="0.1" friction="0.0"/>
        <limit effort="30" velocity="1.0" lower="-10.0" upper="10.0" />
        <axis xyz="1 0 0" />
    </joint>
	<joint name="jRightHip_roty" type="revolute">
        <origin xyz="0 0 0" rpy="0 0 0"/>
        <parent link="RightUpperLeg_f1"/>
        <child link="RightUpperLeg_f2"/>
        <dynamics damping="0.1" friction="0.0"/>
        <limit effort="30" velocity="1.0" lower="-10.0" upper="10.0" />
        <axis xyz="0 1 0" />
    </joint>
    <joint name="jRightHip_rotz" type="revolute">
        <origin xyz="0 0 0" rpy="0 0 0"/>
        <parent link="RightUpperLeg_f2"/>
        <child link="RightUpperLeg"/>
        <dynamics damping="0.1" friction="0.0"/>
        <limit effort="30" velocity="1.0" lower="-10.0" upper="10.0" />
        <axis xyz="0 0 1" />
    </joint>
	<joint name="jRightKnee_rotx" type="revolute">
        <origin xyz="6.7e-05           0    -0.45113" rpy="0 0 0"/>
        <parent link="RightUpperLeg"/>
        <child link="RightLowerLeg_f1"/>
        <dynamics damping="0.1" friction="0.0"/>
        <limit effort="30" velocity="1.0" lower="-10.0" upper="10.0" />
        <axis xyz="1 0 0" />
    </joint>
	<joint name="jRightKnee_roty" type="revolute">
        <origin xyz="0 0 0" rpy="0 0 0"/>
        <parent link="RightLowerLeg_f1"/>
        <child link="RightLowerLeg_f2"/>
        <dynamics damping="0.1" friction="0.0"/>
        <limit effort="30" velocity="1.0" lower="-10.0" upper="10.0" />
        <axis xyz="0 1 0" />
    </joint>
    <joint name="jRightKnee_rotz" type="revolute">
        <origin xyz="0 0 0" rpy="0 0 0"/>
        <parent link="RightLowerLeg_f2"/>
        <child link="RightLowerLeg"/>
        <dynamics damping="0.1" friction="0.0"/>
        <limit effort="30" velocity="1.0" lower="-10.0" upper="10.0" />
        <axis xyz="0 0 1" />
    </joint>
	<joint name="jRightAnkle_rotx" type="revolute">
        <origin xyz="0.000289           0    -0.40628" rpy="0 0 0"/>
        <parent link="RightLowerLeg"/>
        <child link="RightFoot_f1"/>
        <dynamics damping="0.1" friction="0.0"/>
        <limit effort="30" velocity="1.0" lower="-10.0" upper="10.0" />
        <axis xyz="1 0 0" />
    </joint>
	<joint name="jRightAnkle_roty" type="revolute">
        <origin xyz="0 0 0" rpy="0 0 0"/>
        <parent link="RightFoot_f1"/>
        <child link="RightFoot_f2"/>
        <dynamics damping="0.1" friction="0.0"/>
        <limit effort="30" velocity="1.0" lower="-10.0" upper="10.0" />
        <axis xyz="0 1 0" />
    </joint>
    <joint name="jRightAnkle_rotz" type="revolute">
        <origin xyz="0 0 0" rpy="0 0 0"/>
        <parent link="RightFoot_f2"/>
        <child link="RightFoot"/>
        <dynamics damping="0.1" friction="0.0"/>
        <limit effort="30" velocity="1.0" lower="-10.0" upper="10.0" />
        <axis xyz="0 0 1" />
    </joint>
	<joint name="jRightBallFoot_rotx" type="revolute">
        <origin xyz="0.14109           0    -0.10944" rpy="0 0 0"/>
        <parent link="RightFoot"/>
        <child link="RightToe_f1"/>
        <dynamics damping="0.1" friction="0.0"/>
        <limit effort="30" velocity="1.0" lower="-10.0" upper="10.0" />
        <axis xyz="1 0 0" />
    </joint>
	<joint name="jRightBallFoot_roty" type="revolute">
        <origin xyz="0 0 0" rpy="0 0 0"/>
        <parent link="RightToe_f1"/>
        <child link="RightToe_f2"/>
        <dynamics damping="0.1" friction="0.0"/>
        <limit effort="30" velocity="1.0" lower="-10.0" upper="10.0" />
        <axis xyz="0 1 0" />
    </joint>
    <joint name="jRightBallFoot_rotz" type="revolute">
        <origin xyz="0 0 0" rpy="0 0 0"/>
        <parent link="RightToe_f2"/>
        <child link="RightToe"/>
        <dynamics damping="0.1" friction="0.0"/>
        <limit effort="30" velocity="1.0" lower="-10.0" upper="10.0" />
        <axis xyz="0 0 1" />
    </joint>
	<!--Chain from (20) to (23)-->
	<joint name="jLeftHip_rotx" type="revolute">
        <origin xyz="4.4e-05    0.081879    0.000436" rpy="0 0 0"/>
        <parent link="Pelvis"/>
        <child link="LeftUpperLeg_f1"/>
        <dynamics damping="0.1" friction="0.0"/>
        <limit effort="30" velocity="1.0" lower="-10.0" upper="10.0" />
        <axis xyz="1 0 0" />
    </joint>
	<joint name="jLeftHip_roty" type="revolute">
        <origin xyz="0 0 0" rpy="0 0 0"/>
        <parent link="LeftUpperLeg_f1"/>
        <child link="LeftUpperLeg_f2"/>
        <dynamics damping="0.1" friction="0.0"/>
        <limit effort="30" velocity="1.0" lower="-10.0" upper="10.0" />
        <axis xyz="0 1 0" />
    </joint>
    <joint name="jLeftHip_rotz" type="revolute">
        <origin xyz="0 0 0" rpy="0 0 0"/>
        <parent link="LeftUpperLeg_f2"/>
        <child link="LeftUpperLeg"/>
        <dynamics damping="0.1" friction="0.0"/>
        <limit effort="30" velocity="1.0" lower="-10.0" upper="10.0" />
        <axis xyz="0 0 1" />
    </joint>
	<joint name="jLeftKnee_rotx" type="revolute">
        <origin xyz="6.7e-05           0    -0.45113" rpy="0 0 0"/>
        <parent link="LeftUpperLeg"/>
        <child link="LeftLowerLeg_f1"/>
        <dynamics damping="0.1" friction="0.0"/>
        <limit effort="30" velocity="1.0" lower="-10.0" upper="10.0" />
        <axis xyz="1 0 0" />
    </joint>
	<joint name="jLeftKnee_roty" type="revolute">
        <origin xyz="0 0 0" rpy="0 0 0"/>
        <parent link="LeftLowerLeg_f1"/>
        <child link="LeftLowerLeg_f2"/>
        <dynamics damping="0.1" friction="0.0"/>
        <limit effort="30" velocity="1.0" lower="-10.0" upper="10.0" />
        <axis xyz="0 1 0" />
    </joint>
    <joint name="jLeftKnee_rotz" type="revolute">
        <origin xyz="0 0 0" rpy="0 0 0"/>
        <parent link="LeftLowerLeg_f2"/>
        <child link="LeftLowerLeg"/>
        <dynamics damping="0.1" friction="0.0"/>
        <limit effort="30" velocity="1.0" lower="-10.0" upper="10.0" />
        <axis xyz="0 0 1" />
    </joint>
	<joint name="jLeftAnkle_rotx" type="revolute">
        <origin xyz="0.000289           0    -0.40628" rpy="0 0 0"/>
        <parent link="LeftLowerLeg"/>
        <child link="LeftFoot_f1"/>
        <dynamics damping="0.1" friction="0.0"/>
        <limit effort="30" velocity="1.0" lower="-10.0" upper="10.0" />
        <axis xyz="1 0 0" />
    </joint>
	<joint name="jLeftAnkle_roty" type="revolute">
        <origin xyz="0 0 0" rpy="0 0 0"/>
        <parent link="LeftFoot_f1"/>
        <child link="LeftFoot_f2"/>
        <dynamics damping="0.1" friction="0.0"/>
        <limit effort="30" velocity="1.0" lower="-10.0" upper="10.0" />
        <axis xyz="0 1 0" />
    </joint>
    <joint name="jLeftAnkle_rotz" type="revolute">
        <origin xyz="0 0 0" rpy="0 0 0"/>
        <parent link="LeftFoot_f2"/>
        <child link="LeftFoot"/>
        <dynamics damping="0.1" friction="0.0"/>
        <limit effort="30" velocity="1.0" lower="-10.0" upper="10.0" />
        <axis xyz="0 0 1" />
    </joint>
	<joint name="jLeftBallFoot_rotx" type="revolute">
        <origin xyz="0.14109           0    -0.10944" rpy="0 0 0"/>
        <parent link="LeftFoot"/>
        <child link="LeftToe_f1"/>
        <dynamics damping="0.1" friction="0.0"/>
        <limit effort="30" velocity="1.0" lower="-10.0" upper="10.0" />
        <axis xyz="1 0 0" />
    </joint>
	<joint name="jLeftBallFoot_roty" type="revolute">
        <origin xyz="0 0 0" rpy="0 0 0"/>
        <parent link="LeftToe_f1"/>
        <child link="LeftToe_f2"/>
        <dynamics damping="0.1" friction="0.0"/>
        <limit effort="30" velocity="1.0" lower="-10.0" upper="10.0" />
        <axis xyz="0 1 0" />
    </joint>
    <joint name="jLeftBallFoot_rotz" type="revolute">
        <origin xyz="0 0 0" rpy="0 0 0"/>
        <parent link="LeftToe_f2"/>
        <child link="LeftToe"/>
        <dynamics damping="0.1" friction="0.0"/>
        <limit effort="30" velocity="1.0" lower="-10.0" upper="10.0" />
        <axis xyz="0 0 1" />
    </joint>

<robot name="XSensStyleModel_template">
<!--To open this model with Gazebo replace the null masses, inertias and dimensions of the 'fake links f1 and f2'-->
    <!--LINKS-->
	<!--Link base (1)-->
	<link name="Pelvis">
        <inertial>
            <mass value="4.88"/>
			<!--COM origin wrt pHipOrigin-->
            <origin xyz="0           0    0.050194" rpy="0 0 0" />
            <inertia ixx="0.029296" iyy="0.011839" izz="0.033081" ixy="0" ixz="0" iyz="0"/>
        </inertial>

        <visual>
			<!--box origin wrt pHipOrigin-->
            <origin xyz="0           0    0.050194" rpy="0 0 0" />
            <geometry>
                <box size="0.1386     0.24927    0.099515"/>
            </geometry>
        </visual>

        <collision>
			<!--box origin wrt pHipOrigin-->
            <origin xyz="0           0    0.050194" rpy="0 0 0" />
            <geometry>
                <box size="0.1386     0.24927    0.099515"/>
            </geometry>
        </collision>

    </link>
    <!--Chain from (2) to (7)-->
	<link name="L5_f1">
        <inertial>
            <mass value="0"/>
            <origin xyz="0 0 0" rpy="0 0 0" />
            <inertia ixx="0" iyy="0" izz="0" ixy="0" ixz="0" iyz="0"/>
        </inertial>
    </link>
	<link name="L5">
        <inertial>
            <mass value="6.222"/>
			<!--COM origin wrt jL5S1-->
            <origin xyz="0           0     0.04987" rpy="0 0 0" />
            <inertia ixx="0.019063" iyy="0.015119" izz="0.0002671" ixy="0" ixz="0" iyz="0"/>
        </inertial>

        <visual>
			<!--box origin origin wrt jL5S1-->
            <origin xyz="0           0     0.04987" rpy="0 0 0" />
            <geometry>
                <box size="0.1386     0.16376    0.099741"/>
            </geometry>
        </visual>

        <collision>
			<!--box origin origin wrt jL5S1-->
            <origin xyz="0           0     0.04987" rpy="0 0 0" />
            <geometry>
                <box size="0.1386     0.16376    0.099741"/>
            </geometry>
        </collision>
    </link>
	<link name="L3_f1">
        <inertial>
            <mass value="0"/>
            <origin xyz="0 0 0" rpy="0 0 0" />
            <inertia ixx="0" iyy="0" izz="0" ixy="0" ixz="0" iyz="0"/>
        </inertial>
    </link>
	<link name="L3">
        <inertial>
            <mass value="6.222"/>
			<!--COM origin wrt jL4L3-->
            <origin xyz="0           0    0.045056" rpy="0 0 0" />
            <inertia ixx="0.018115" iyy="0.014171" izz="0.023865" ixy="0" ixz="0" iyz="0"/>
        </inertial>

        <visual>
			<!--box origin origin wrt jL4L3-->
            <origin xyz="0           0    0.045056" rpy="0 0 0" />
            <geometry>
                <box size="0.1386     0.16376    0.090113"/>
            </geometry>
        </visual>

        <collision>
			<!--box origin origin wrt jL4L3-->
            <origin xyz="0           0    0.045056" rpy="0 0 0" />
            <geometry>
                <box size="0.1386     0.16376    0.090113"/>
            </geometry>
        </collision>
    </link>
	<link name="T12_f1">
        <inertial>
            <mass value="0"/>
            <origin xyz="0 0 0" rpy="0 0 0" />
            <inertia ixx="0" iyy="0" izz="0" ixy="0" ixz="0" iyz="0"/>
        </inertial>
    </link>
	<link name="T12">
        <inertial>
            <mass value="6.222"/>
			<!--COM origin wrt jL1T12-->
            <origin xyz="0           0    0.045056" rpy="0 0 0" />
            <inertia ixx="0.018115" iyy="0.014171" izz="0.023865" ixy="0" ixz="0" iyz="0"/>
        </inertial>

        <visual>
			<!--box origin origin wrt jL1T12-->
            <origin xyz="0           0    0.045056" rpy="0 0 0" />
            <geometry>
                <box size="0.1386     0.16376    0.090113"/>
            </geometry>
        </visual>

        <collision>
			<!--box origin origin wrt jL1T12-->
            <origin xyz="0           0    0.045056" rpy="0 0 0" />
            <geometry>
                <box size="0.1386     0.16376    0.090113"/>
            </geometry>
        </collision>
    </link>
	<link name="T8_f1">
        <inertial>
            <mass value="0"/>
            <origin xyz="0 0 0" rpy="0 0 0" />
            <inertia ixx="0" iyy="0" izz="0" ixy="0" ixz="0" iyz="0"/>
        </inertial>
    </link>
	<link name="T8_f2">
        <inertial>
            <mass value="0"/>
            <origin xyz="0 0 0" rpy="0 0 0" />
            <inertia ixx="0" iyy="0" izz="0" ixy="0" ixz="0" iyz="0"/>
        </inertial>
    </link>
	<link name="T8">
        <inertial>
            <mass value="2.44"/>
			<!--COM origin wrt jT9T8-->
            <origin xyz="0           0    0.062925" rpy="0 0 0" />
            <inertia ixx="0.0038182" iyy="0.007132" izz="0.0045093" ixy="0" ixz="0" iyz="0"/>
        </inertial>

        <visual>
			<!--box origin wrt jT9T8-->
            <origin xyz="0           0    0.062925" rpy="0 0 0" />
            <geometry>
                <box size="0.1387    0.054218     0.12585"/>
            </geometry>
        </visual>

        <collision>
			<!--box origin wrt jT9T8-->
            <origin xyz="0           0    0.062925" rpy="0 0 0" />
            <geometry>
                <box size="0.1387    0.054218     0.12585"/>
            </geometry>
        </collision>

    </link>
	<link name="Neck_f1">
        <inertial>
            <mass value="0"/>
            <origin xyz="0 0 0" rpy="0 0 0" />
            <inertia ixx="0" iyy="0" izz="0" ixy="0" ixz="0" iyz="0"/>
        </inertial>
    </link>
	<link name="Neck_f2">
        <inertial>
            <mass value="0"/>
            <origin xyz="0 0 0" rpy="0 0 0" />
            <inertia ixx="0" iyy="0" izz="0" ixy="0" ixz="0" iyz="0"/>
        </inertial>
    </link>
	<link name="Neck">
        <inertial>
            <mass value="0.732"/>
			<!--COM origin wrt jT1C7-->
            <origin xyz="0           0    0.041973" rpy="0 0 0" />
            <inertia ixx="0.00056618" iyy="0.00056618" izz="0.00027264" ixy="0" ixz="0" iyz="0"/>
        </inertial>

        <visual>
			<!--box origin wrt jT1C7-->
            <origin xyz="0           0    0.041973" rpy="0 0 0" />
            <geometry>
		<cylinder length="0.083946" radius="0.013647"/>
            </geometry>
        </visual>

        <collision>
			<!--box origin wrt jT1C7-->
            <origin xyz="0           0    0.041973" rpy="0 0 0" />
            <geometry>
                <cylinder length="0.083946" radius="0.013647"/>
            </geometry>
        </collision>
    </link>
	<link name="Head_f1">
        <inertial>
            <mass value="0"/>
            <origin xyz="0 0 0" rpy="0 0 0" />
            <inertia ixx="0" iyy="0" izz="0" ixy="0" ixz="0" iyz="0"/>
        </inertial>
    </link>
	<link name="Head">
        <inertial>
            <mass value="2.196"/>
			<!--COM origin wrt jC1Head-->
            <origin xyz="0           0    0.079896" rpy="0 0 0" />
            <inertia ixx="0.0056072" iyy="0.0056072" izz="0.0056072" ixy="0" ixz="0" iyz="0"/>
        </inertial>

        <visual>
			<!--boc origin wrt jC1Head-->
            <origin xyz="0           0    0.079896" rpy="0 0 0" />
            <geometry>
                <sphere radius="0.079896"/>
            </geometry>
        </visual>

        <collision>
			<!--box origin wrt jC1Head-->
            <origin xyz="0           0    0.079896" rpy="0 0 0" />
            <geometry>
                <sphere radius="0.079896"/>
            </geometry>
        </collision>

    </link>
	<!--Chain from (8) to (11)-->
	<link name="RightShoulder">
        <inertial>
            <mass value="1.891"/>
			<!--COM origin wrt jRightC7Shoulder-->
            <origin xyz="0   -0.064947           0" rpy="0 0 0" />
            <inertia ixx="0.0029192" iyy="0.00052075" izz="0.0029192" ixy="0" ixz="0" iyz="0"/>
        </inertial>

        <visual>
			<!--box origin wrt jRightC7Shoulder. RPY rotated of pi/2.-->
            <origin xyz="0   -0.064947           0" rpy="1.5708 0 0" />
            <geometry>
                <cylinder length="0.12989" radius="0.023468"/>
            </geometry>
        </visual>

        <collision>
			<!--box origin wrt jRightC7Shoulder. RPY rotated of pi/2.-->
            <origin xyz="0   -0.064947           0" rpy="1.5708 0 0" />
            <geometry>
                <cylinder length="0.12989" radius="0.023468"/>
            </geometry>
        </collision>

    </link>
	<link name="RightUpperArm_f1">
        <inertial>
            <mass value="0"/>
            <origin xyz="0 0 0" rpy="0 0 0" />
            <inertia ixx="0" iyy="0" izz="0" ixy="0" ixz="0" iyz="0"/>
        </inertial>
    </link>
	<link name="RightUpperArm_f2">
        <inertial>
            <mass value="0"/>
            <origin xyz="0 0 0" rpy="0 0 0" />
            <inertia ixx="0" iyy="0" izz="0" ixy="0" ixz="0" iyz="0"/>
        </inertial>
    </link>
    <link name="RightUpperArm">
        <inertial>
            <mass value="1.83"/>
			<!--COM origin wrt jRightShoulder-->
            <origin xyz="0    -0.13498           0" rpy="0 0 0" />
            <inertia ixx="0.01151" iyy="0.00079302" izz="0.01151" ixy="0" ixz="0" iyz="0"/>
        </inertial>

        <visual>
			<!--box origin wrt jRightShoulder. RPY rotated of pi/2.-->
            <origin xyz="0    -0.13498           0" rpy="1.5708 0 0" />
            <geometry>
                <cylinder length="0.26995" radius="0.02944"/>
            </geometry>
        </visual>

        <collision>
			<!--box origin wrt jRightShoulder. RPY rotated of pi/2.-->
            <origin xyz="0    -0.13498           0" rpy="1.5708 0 0" />
            <geometry>
                <cylinder length="0.26995" radius="0.02944"/>
            </geometry>
        </collision>

    </link>
	<link name="RightForeArm_f1">
        <inertial>
            <mass value="0"/>
            <origin xyz="0 0 0" rpy="0 0 0" />
            <inertia ixx="0" iyy="0" izz="0" ixy="0" ixz="0" iyz="0"/>
        </inertial>
    </link>
	<link name="RightForeArm">
        <inertial>
            <mass value="1.22"/>
			<!--COM origin wrt jRightElbow-->
            <origin xyz="0    -0.11119           0" rpy="0 0 0" />
            <inertia ixx="0.0051448" iyy="0.00023497" izz="0.0051448" ixy="0" ixz="0" iyz="0"/>
        </inertial>

        <visual>
			<!--box origin wrt jRightElbow. RPY rotated of pi/2.-->
            <origin xyz="0    -0.11119           0" rpy="1.5708 0 0" />
            <geometry>
                <cylinder length="0.22237" radius="0.019626"/>
            </geometry>
        </visual>

        <collision>
			<!--box origin wrt jRightElbow. RPY rotated of pi/2.-->
            <origin xyz="0    -0.11119           0" rpy="1.5708 0 0" />
            <geometry>
                <cylinder length="0.22237" radius="0.019626"/>
            </geometry>
        </collision>

    </link>
	<link name="RightHand_f1">
        <inertial>
            <mass value="0"/>
            <origin xyz="0 0 0" rpy="0 0 0" />
            <inertia ixx="0" iyy="0" izz="0" ixy="0" ixz="0" iyz="0"/>
        </inertial>
    </link>
	<link name="RightHand">
        <inertial>
            <mass value="0.366"/>
			<!--COM origin wrt jRightWrist-->
            <origin xyz="0   -0.083494           0" rpy="0 0 0" />
            <inertia ixx="0.0008975" iyy="0.00042499" izz="0.0012285" ixy="0" ixz="0" iyz="0"/>
        </inertial>

        <visual>
			<!--box origin wrt jRightWrist-->
            <origin xyz="0   -0.083494           0" rpy="0 0 0" />
            <geometry>
                <box size="0.11133     0.16699    0.039253"/>
            </geometry>
        </visual>

        <collision>
			<!--box origin wrt jRightWrist-->
            <origin xyz="0   -0.083494           0" rpy="0 0 0" />
            <geometry>
                <box size="0.11133     0.16699    0.039253"/>
            </geometry>
        </collision>

    </link>
	<!--Chain from (12) to (15)-->
	<link name="LeftShoulder">
        <inertial>
            <mass value="1.891"/>
			<!--COM origin wrt jLeftC7Shoulder-->
            <origin xyz="0    0.064947           0" rpy="0 0 0" />
            <inertia ixx="0.0029192" iyy="0.00052075" izz="0.0029192" ixy="0" ixz="0" iyz="0"/>
        </inertial>

        <visual>
			<!--box origin wrt jLeftC7Shoulder. RPY rotated of pi/2.-->
            <origin xyz="0    0.064947           0" rpy="1.5708 0 0" />
            <geometry>
                <cylinder length="0.12989" radius="0.023468"/>
            </geometry>
        </visual>

        <collision>
			<!--box origin wrt jLeftC7Shoulder. RPY rotated of pi/2.-->
            <origin xyz="0    0.064947           0" rpy="1.5708 0 0" />
            <geometry>
                <cylinder length="0.12989" radius="0.023468"/>
            </geometry>
        </collision>

    </link>
	<link name="LeftUpperArm_f1">
        <inertial>
            <mass value="0"/>
            <origin xyz="0 0 0" rpy="0 0 0" />
            <inertia ixx="0" iyy="0" izz="0" ixy="0" ixz="0" iyz="0"/>
        </inertial>
    </link>
	<link name="LeftUpperArm_f2">
        <inertial>
            <mass value="0"/>
            <origin xyz="0 0 0" rpy="0 0 0" />
            <inertia ixx="0" iyy="0" izz="0" ixy="0" ixz="0" iyz="0"/>
        </inertial>
    </link>
	<link name="LeftUpperArm">
        <inertial>
            <mass value="1.83"/>
			<!--COM origin wrt jLeftShoulder-->
            <origin xyz="0     0.13498           0" rpy="0 0 0" />
            <inertia ixx="0.01151" iyy="0.00079302" izz="0.01151" ixy="0" ixz="0" iyz="0"/>
        </inertial>

        <visual>
			<!--box origin wrt jLeftShoulder. RPY rotated of pi/2.-->
            <origin xyz="0     0.13498           0" rpy="1.5708 0 0" />
            <geometry>
                <cylinder length="0.26995" radius="0.02944"/>
            </geometry>
        </visual>

        <collision>
			<!--box origin wrt jLeftShoulder. RPY rotated of pi/2.-->
            <origin xyz="0     0.13498           0" rpy="1.5708 0 0" />
            <geometry>
                <cylinder length="0.26995" radius="0.02944"/>
            </geometry>
        </collision>

    </link>
	<link name="LeftForeArm_f1">
        <inertial>
            <mass value="0"/>
            <origin xyz="0 0 0" rpy="0 0 0" />
            <inertia ixx="0" iyy="0" izz="0" ixy="0" ixz="0" iyz="0"/>
        </inertial>
    </link>
	<link name="LeftForeArm">
        <inertial>
            <mass value="1.22"/>
			<!--COM origin wrt jLeftElbow-->
            <origin xyz="0     0.11119           0" rpy="0 0 0" />
            <inertia ixx="0.0051448" iyy="0.00023497" izz="0.0051448" ixy="0" ixz="0" iyz="0"/>
        </inertial>

        <visual>
			<!--box origin wrt jLeftElbow. RPY rotated of pi/2.-->
            <origin xyz="0     0.11119           0" rpy="1.5708 0 0" />
            <geometry>
                <cylinder length="0.22237" radius="0.019626"/>
            </geometry>
        </visual>

        <collision>
			<!--box origin wrt jLeftElbow. RPY rotated of pi/2.-->
            <origin xyz="0     0.11119           0" rpy="1.5708 0 0" />
            <geometry>
                <cylinder length="0.22237" radius="0.019626"/>
            </geometry>
        </collision>

    </link>
	<link name="LeftHand_f1">
        <inertial>
            <mass value="0"/>
            <origin xyz="0 0 0" rpy="0 0 0" />
            <inertia ixx="0" iyy="0" izz="0" ixy="0" ixz="0" iyz="0"/>
        </inertial>
    </link>
	<link name="LeftHand">
        <inertial>
            <mass value="0.366"/>
			<!--COM origin wrt jLeftWrist-->
            <origin xyz="0    0.083494           0" rpy="0 0 0" />
            <inertia ixx="0.0008975" iyy="0.00042499" izz="0.0012285" ixy="0" ixz="0" iyz="0"/>
        </inertial>

        <visual>
			<!--COM origin wrt jLeftWrist-->
            <origin xyz="0    0.083494           0" rpy="0 0 0" />
            <geometry>
                <box size="0.11133     0.16699    0.039253"/>
            </geometry>
        </visual>

        <collision>
			<!--COM origin wrt jLeftWrist-->
            <origin xyz="0    0.083494           0" rpy="0 0 0" />
            <geometry>
                <box size="0.11133     0.16699    0.039253"/>
            </geometry>
        </collision>

    </link>
	<!--Chain from (16) to (19)-->
	<link name="RightUpperLeg_f1">
        <inertial>
            <mass value="0"/>
            <origin xyz="0 0 0" rpy="0 0 0" />
            <inertia ixx="0" iyy="0" izz="0" ixy="0" ixz="0" iyz="0"/>
        </inertial>
    </link>
	<link name="RightUpperLeg_f2">
        <inertial>
            <mass value="0"/>
            <origin xyz="0 0 0" rpy="0 0 0" />
            <inertia ixx="0" iyy="0" izz="0" ixy="0" ixz="0" iyz="0"/>
        </inertial>
    </link>
    <link name="RightUpperLeg">
        <inertial>
            <mass value="7.625"/>
			<!--COM origin wrt jRightHip-->
            <origin xyz="0           0    -0.22557" rpy="0 0 0" />
            <inertia ixx="0.13545" iyy="0.13545" izz="0.012254" ixy="0" ixz="0" iyz="0"/>
        </inertial>

        <visual>
			<!--box origin wrt jRightHip-->
            <origin xyz="0           0    -0.22557" rpy="0 0 0" />
            <geometry>
                <cylinder length="0.45113" radius="0.056694"/>
            </geometry>
        </visual>

        <collision>
			<!--box origin wrt jRightHip-->
            <origin xyz="0           0    -0.22557" rpy="0 0 0" />
            <geometry>
                <cylinder length="0.45113" radius="0.056694"/>
            </geometry>
        </collision>

    </link>
	<link name="RightLowerLeg_f1">
        <inertial>
            <mass value="0"/>
            <origin xyz="0 0 0" rpy="0 0 0" />
            <inertia ixx="0" iyy="0" izz="0" ixy="0" ixz="0" iyz="0"/>
        </inertial>
    </link>
    <link name="RightLowerLeg">
        <inertial>
            <mass value="2.2265"/>
			<!--COM origin wrt jRightKnee-->
            <origin xyz="0           0    -0.20314" rpy="0 0 0" />
            <inertia ixx="0.031404" iyy="0.031404" izz="0.001557" ixy="0" ixz="0" iyz="0"/>
        </inertial>

        <visual>
			<!--box origin wrt jRightKnee-->
            <origin xyz="0           0    -0.20314" rpy="0 0 0" />
            <geometry>
                <cylinder length="0.40628" radius="0.037398"/>
            </geometry>
        </visual>

        <collision>
			<!--box origin wrt jRightKnee-->
            <origin xyz="0           0    -0.20314" rpy="0 0 0" />
            <geometry>
                <cylinder length="0.40628" radius="0.037398"/>
            </geometry>
        </collision>

    </link>
	<link name="RightFoot_f1">
        <inertial>
            <mass value="0"/>
            <origin xyz="0 0 0" rpy="0 0 0" />
            <inertia ixx="0" iyy="0" izz="0" ixy="0" ixz="0" iyz="0"/>
        </inertial>
    </link>
	<link name="RightFoot_f2">
        <inertial>
            <mass value="0"/>
            <origin xyz="0 0 0" rpy="0 0 0" />
            <inertia ixx="0" iyy="0" izz="0" ixy="0" ixz="0" iyz="0"/>
        </inertial>
    </link>
    <link name="RightFoot">
        <inertial>
            <mass value="0.793"/>
			<!--COM origin wrt jRightAnkle-->
            <origin xyz="0.050643           0   -0.061735" rpy="0 0 0" />
            <inertia ixx="0.0013771" iyy="0.00317" izz="0.0025323" ixy="0" ixz="0" iyz="0"/>
        </inertial>

        <visual>
			<!--box origin wrt jRightAnkle-->
	    	<origin xyz="0.050643           0   -0.061735" rpy="0 0 0" />
            <geometry>
                <box size="0.1809    0.074795     0.12347"/>
            </geometry>
        </visual>

        <collision>
			<!--box origin wrt jRightAnkle-->
		    <origin xyz="0.050643           0   -0.061735" rpy="0 0 0" />
	            <geometry>
	                <box size="0.1809    0.074795     0.12347"/>
	            </geometry>
        </collision>

    </link>
    <link name="RightToe">
        <inertial>
            <mass value="0.0915"/>
			<!--COM origin wrt jRightBallFoot-->
            <origin xyz="0.029551           0           0" rpy="0 0 0" />
            <inertia ixx="4.419e-05" iyy="2.8167e-05" izz="6.929e-05" ixy="0" ixz="0" iyz="0"/>
        </inertial>

        <visual>
			<!--box origin wrt jRightBallFoot-->
            <origin xyz="0.029551           0           0" rpy="0 0 0" />
            <geometry>
                <box size="0.059101    0.074795    0.014183"/>
            </geometry>
        </visual>

        <collision>
			<!--box origin wrt jRightBallFoot-->
            <origin xyz="0.029551           0           0" rpy="0 0 0" />
            <geometry>
                <box size="0.059101    0.074795    0.014183"/>
            </geometry>
        </collision>
    </link>
	<!--Chain from (20) to (23)-->
	<link name="LeftUpperLeg_f1">
        <inertial>
            <mass value="0"/>
            <origin xyz="0 0 0" rpy="0 0 0" />
            <inertia ixx="0" iyy="0" izz="0" ixy="0" ixz="0" iyz="0"/>
        </inertial>
    </link>
	<link name="LeftUpperLeg_f2">
        <inertial>
            <mass value="0"/>
            <origin xyz="0 0 0" rpy="0 0 0" />
            <inertia ixx="0" iyy="0" izz="0" ixy="0" ixz="0" iyz="0"/>
        </inertial>
    </link>
    <link name="LeftUpperLeg">
        <inertial>
            <mass value="7.625"/>
			<!--COM origin wrt jLeftHip-->
            <origin xyz="0           0    -0.22557" rpy="0 0 0" />
            <inertia ixx="0.13545" iyy="0.13545" izz="0.012254" ixy="0" ixz="0" iyz="0"/>
        </inertial>

        <visual>
			<!--box origin wrt jLeftHip-->
            <origin xyz="0           0    -0.22557" rpy="0 0 0" />
            <geometry>
                <cylinder length="0.45113" radius="-0.056694"/>
            </geometry>
        </visual>

        <collision>
			<!--box origin wrt jLeftHip-->
            <origin xyz="0           0    -0.22557" rpy="0 0 0" />
            <geometry>
                <cylinder length="0.45113" radius="-0.056694"/>
            </geometry>
        </collision>

    </link>
	<link name="LeftLowerLeg_f1">
        <inertial>
            <mass value="0"/>
            <origin xyz="0 0 0" rpy="0 0 0" />
            <inertia ixx="0" iyy="0" izz="0" ixy="0" ixz="0" iyz="0"/>
        </inertial>
    </link>
	<link name="LeftLowerLeg">
        <inertial>
            <mass value="2.2265"/>
			<!--COM origin wrt jLeftKnee-->
            <origin xyz="0           0    -0.20314" rpy="0 0 0" />
            <inertia ixx="0.031404" iyy="0.031404" izz="0.001557" ixy="0" ixz="0" iyz="0"/>
        </inertial>

        <visual>
			<!--box origin wrt jLeftKnee-->
            <origin xyz="0           0    -0.20314" rpy="0 0 0" />
            <geometry>
		<cylinder length="0.40628" radius="0.037398"/>
            </geometry>
        </visual>

        <collision>
			<!--box origin wrt jLeftKnee-->
            <origin xyz="0           0    -0.20314" rpy="0 0 0" />
            <geometry>
		<cylinder length="0.40628" radius="0.037398"/>
            </geometry>
        </collision>

    </link>
	<link name="LeftFoot_f1">
        <inertial>
            <mass value="0"/>
            <origin xyz="0 0 0" rpy="0 0 0" />
            <inertia ixx="0" iyy="0" izz="0" ixy="0" ixz="0" iyz="0"/>
        </inertial>
    </link>
	<link name="LeftFoot_f2">
        <inertial>
            <mass value="0"/>
            <origin xyz="0 0 0" rpy="0 0 0" />
            <inertia ixx="0" iyy="0" izz="0" ixy="0" ixz="0" iyz="0"/>
        </inertial>
    </link>
    <link name="LeftFoot">
        <inertial>
            <mass value="0.793"/>
			<!--COM origin wrt jLeftAnkle-->
            <origin xyz="0.050643           0   -0.061735" rpy="0 0 0" />
            <inertia ixx="0.0013771" iyy="0.00317" izz="0.0025323" ixy="0" ixz="0" iyz="0"/>
        </inertial>

        <visual>
			<!--box origin wrt jLeftAnkle-->
	   	 	<origin xyz="0.050643           0   -0.061735" rpy="0 0 0" />
            <geometry>
                <box size="0.1809    0.074795     0.12347"/>
            </geometry>
        </visual>

        <collision>
			<!--box origin wrt jLeftAnkle-->
		    <origin xyz="0.050643           0   -0.061735" rpy="0 0 0" />
	            <geometry>
	                <box size="0.1809    0.074795     0.12347"/>
	            </geometry>
        </collision>

    </link>
	<link name="LeftToe">
        <inertial>
            <mass value="0.0915"/>
			<!--COM origin wrt jLeftBallFoot-->
            <origin xyz="0.029551           0           0" rpy="0 0 0" />
            <inertia ixx="4.419e-05" iyy="2.8167e-05" izz="6.929e-05" ixy="0" ixz="0" iyz="0"/>
        </inertial>

        <visual>
			<!--box origin wrt jLeftBallFoot-->
            <origin xyz="0.029551           0           0" rpy="0 0 0" />
            <geometry>
                <box size="0.059101    0.074795    0.014183"/>
            </geometry>
        </visual>

        <collision>
			<!--box origin wrt jLeftBallFoot-->
            <origin xyz="0.029551           0           0" rpy="0 0 0" />
            <geometry>
                <box size="0.059101    0.074795    0.014183"/>
            </geometry>
        </collision>
    </link>


	<!--JOINTS-->
	<!--Chain from (2) to (7)-->
	<joint name="jL5S1_rotx" type="revolute">
        <origin xyz="-8.9e-05           0    0.099951" rpy="0 0 0"/>
        <parent link="Pelvis"/>
        <child link="L5_f1"/>
        <dynamics damping="0.1" friction="0.0"/>
        <limit effort="30" velocity="1.0" lower="-0.610865" upper="0.610865" />
        <axis xyz="1 0 0" />
    </joint>
	<joint name="jL5S1_roty" type="revolute">
        <origin xyz="0 0 0" rpy="0 0 0"/>
        <parent link="L5_f1"/>
        <child link="L5"/>
        <dynamics damping="0.1" friction="0.0"/>
        <limit effort="30" velocity="1.0" lower="-0.523599" upper="1.309" />
        <axis xyz="0 1 0" />
    </joint>
	<joint name="jL4L3_rotx" type="revolute">
        <origin xyz="0.000162           0    0.099741" rpy="0 0 0"/>
        <parent link="L5"/>
        <child link="L3_f1"/>
        <dynamics damping="0.1" friction="0.0"/>
        <limit effort="30" velocity="1.0" lower="-0.610865" upper="0.610865" />
        <axis xyz="1 0 0" />
    </joint>
	<joint name="jL4L3_roty" type="revolute">
        <origin xyz="0 0 0" rpy="0 0 0"/>
        <parent link="L3_f1"/>
        <child link="L3"/>
        <dynamics damping="0.1" friction="0.0"/>
        <limit effort="30" velocity="1.0" lower="-0.523599" upper="1.309" />
        <axis xyz="0 1 0" />
    </joint>
	<joint name="jL1T12_rotx" type="revolute">
        <origin xyz="0           0    0.090113" rpy="0 0 0"/>
        <parent link="L3"/>
        <child link="T12_f1"/>
        <dynamics damping="0.1" friction="0.0"/>
        <limit effort="30" velocity="1.0" lower="-0.610865" upper="0.610865" />
        <axis xyz="1 0 0" />
    </joint>
	<joint name="jL1T12_roty" type="revolute">
        <origin xyz="0 0 0" rpy="0 0 0"/>
        <parent link="T12_f1"/>
        <child link="T12"/>
        <dynamics damping="0.1" friction="0.0"/>
        <limit effort="30" velocity="1.0" lower="-0.523599" upper="1.309" />
        <axis xyz="0 1 0" />
    </joint>
	<joint name="jT9T8_rotx" type="revolute">
        <origin xyz="0           0    0.090113" rpy="0 0 0"/>
        <parent link="T12"/>
        <child link="T8_f1"/>
        <dynamics damping="0.1" friction="0.0"/>
        <limit effort="30" velocity="1.0" lower="-0.349066" upper="0.349066" />
        <axis xyz="1 0 0" />
    </joint>
	<joint name="jT9T8_roty" type="revolute">
        <origin xyz="0 0 0" rpy="0 0 0"/>
        <parent link="T8_f1"/>
        <child link="T8_f2"/>
        <dynamics damping="0.1" friction="0.0"/>
        <limit effort="30" velocity="1.0" lower="-0.261799" upper="0.698132" />
        <axis xyz="0 1 0" />
    </joint>
    <joint name="jT9T8_rotz" type="revolute">
        <origin xyz="0 0 0" rpy="0 0 0"/>
        <parent link="T8_f2"/>
        <child link="T8"/>
        <dynamics damping="0.1" friction="0.0"/>
        <limit effort="30" velocity="1.0" lower="-0.610865" upper="0.610865" />
        <axis xyz="0 0 1" />
    </joint>
	<joint name="jT1C7_rotx" type="revolute">
        <origin xyz="0           0     0.12585" rpy="0 0 0"/>
        <parent link="T8"/>
        <child link="Neck_f1"/>
        <dynamics damping="0.1" friction="0.0"/>
        <limit effort="30" velocity="1.0" lower="-0.610865" upper="0.610865" />
        <axis xyz="1 0 0" />
    </joint>
	<joint name="jT1C7_roty" type="revolute">
        <origin xyz="0 0 0" rpy="0 0 0"/>
        <parent link="Neck_f1"/>
        <child link="Neck_f2"/>
        <dynamics damping="0.1" friction="0.0"/>
        <limit effort="30" velocity="1.0" lower="-0.959931" upper="1.5708" />
        <axis xyz="0 1 0" />
    </joint>
    <joint name="jT1C7_rotz" type="revolute">
        <origin xyz="0 0 0" rpy="0 0 0"/>
        <parent link="Neck_f2"/>
        <child link="Neck"/>
        <dynamics damping="0.1" friction="0.0"/>
        <limit effort="30" velocity="1.0" lower="-1.22173" upper="1.22173" />
        <axis xyz="0 0 1" />
    </joint>
	<joint name="jC1Head_rotx" type="revolute">
        <origin xyz="0.000384           0    0.083946" rpy="0 0 0"/>
        <parent link="Neck"/>
        <child link="Head_f1"/>
        <dynamics damping="0.1" friction="0.0"/>
        <limit effort="30" velocity="1.0" lower="-0.610865" upper="0.610865" />
        <axis xyz="1 0 0" />
    </joint>
	<joint name="jC1Head_roty" type="revolute">
        <origin xyz="0 0 0" rpy="0 0 0"/>
        <parent link="Head_f1"/>
        <child link="Head"/>
        <dynamics damping="0.1" friction="0.0"/>
        <limit effort="30" velocity="1.0" lower="-0.436332" upper="0.174533" />
        <axis xyz="0 1 0" />
    </joint>
	<!--Chain from (8) to (11)-->
	<joint name="jRightC7Shoulder_rotx" type="revolute">
        <origin xyz="0   -0.027109    0.070322" rpy="0 0 0"/>
        <parent link="T8"/>
        <child link="RightShoulder"/>
        <dynamics damping="0.1" friction="0.0"/>
        <limit effort="30" velocity="1.0" lower="-0.0872665" upper="0.785398" />
        <axis xyz="1 0 0" />
    </joint>
	<joint name="jRightShoulder_rotx" type="revolute">
        <origin xyz="0    -0.12989           0" rpy="0 0 0"/>
        <parent link="RightShoulder"/>
        <child link="RightUpperArm_f1"/>
        <dynamics damping="0.1" friction="0.0"/>
        <limit effort="30" velocity="1.0" lower="-2.35619" upper="1.5708" />
        <axis xyz="1 0 0" />
    </joint>
	<joint name="jRightShoulder_roty" type="revolute">
        <origin xyz="0 0 0" rpy="0 0 0"/>
        <parent link="RightUpperArm_f1"/>
        <child link="RightUpperArm_f2"/>
        <dynamics damping="0.1" friction="0.0"/>
        <limit effort="30" velocity="1.0" lower="-1.5708" upper="1.5708" />
        <axis xyz="0 1 0" />
    </joint>
    <joint name="jRightShoulder_rotz" type="revolute">
        <origin xyz="0 0 0" rpy="0 0 0"/>
        <parent link="RightUpperArm_f2"/>
        <child link="RightUpperArm"/>
        <dynamics damping="0.1" friction="0.0"/>
        <limit effort="30" velocity="1.0" lower="-0.785398" upper="3.14159" />
        <axis xyz="0 0 1" />
    </joint>
	<joint name="jRightElbow_roty" type="revolute">
        <origin xyz="0    -0.26995           0" rpy="0 0 0"/>
        <parent link="RightUpperArm"/>
        <child link="RightForeArm_f1"/>
        <dynamics damping="0.1" friction="0.0"/>
        <limit effort="30" velocity="1.0" lower="-1.5708" upper="1.48353" />
        <axis xyz="0 1 0" />
    </joint>
	<joint name="jRightElbow_rotz" type="revolute">
        <origin xyz="0 0 0" rpy="0 0 0"/>
        <parent link="RightForeArm_f1"/>
        <child link="RightForeArm"/>
        <dynamics damping="0.1" friction="0.0"/>
        <limit effort="30" velocity="1.0" lower="0" upper="2.53073" />
        <axis xyz="0 0 1" />
    </joint>
	<joint name="jRightWrist_rotx" type="revolute">
        <origin xyz="7.3e-05    -0.22237           0" rpy="0 0 0"/>
        <parent link="RightForeArm"/>
        <child link="RightHand_f1"/>
        <dynamics damping="0.1" friction="0.0"/>
        <limit effort="30" velocity="1.0" lower="-0.872665" upper="1.0472" />
        <axis xyz="1 0 0" />
    </joint>
	<joint name="jRightWrist_rotz" type="revolute">
        <origin xyz="0 0 0" rpy="0 0 0"/>
        <parent link="RightHand_f1"/>
        <child link="RightHand"/>
        <dynamics damping="0.1" friction="0.0"/>
        <limit effort="30" velocity="1.0" lower="-0.523599" upper="0.349066" />
        <axis xyz="0 0 1" />
    </joint>
	<!--Chain from (12) to (15)-->
	<joint name="jLeftC7Shoulder_rotx" type="revolute">
        <origin xyz="0    0.027109    0.070322" rpy="0 0 0"/>
        <parent link="T8"/>
        <child link="LeftShoulder"/>
        <dynamics damping="0.1" friction="0.0"/>
        <limit effort="30" velocity="1.0" lower="-0.0872665" upper="0.785398" />
        <axis xyz="1 0 0" />
    </joint>
	<joint name="jLeftShoulder_rotx" type="revolute">
        <origin xyz="0     0.12989           0" rpy="0 0 0"/>
        <parent link="LeftShoulder"/>
        <child link="LeftUpperArm_f1"/>
        <dynamics damping="0.1" friction="0.0"/>
        <limit effort="30" velocity="1.0" lower="-1.5708" upper="2.35619" />
        <axis xyz="1 0 0" />
    </joint>
	<joint name="jLeftShoulder_roty" type="revolute">
        <origin xyz="0 0 0" rpy="0 0 0"/>
        <parent link="LeftUpperArm_f1"/>
        <child link="LeftUpperArm_f2"/>
        <dynamics damping="0.1" friction="0.0"/>
        <limit effort="30" velocity="1.0" lower="-1.5708" upper="1.5708" />
        <axis xyz="0 1 0" />
    </joint>
    <joint name="jLeftShoulder_rotz" type="revolute">
        <origin xyz="0 0 0" rpy="0 0 0"/>
        <parent link="LeftUpperArm_f2"/>
        <child link="LeftUpperArm"/>
        <dynamics damping="0.1" friction="0.0"/>
        <limit effort="30" velocity="1.0" lower="-3.14159" upper="0.785398" />
        <axis xyz="0 0 1" />
    </joint>
    <joint name="jLeftElbow_roty" type="revolute">
        <origin xyz="0     0.26995           0" rpy="0 0 0"/>
        <parent link="LeftUpperArm"/>
        <child link="LeftForeArm_f1"/>
        <dynamics damping="0.1" friction="0.0"/>
        <limit effort="30" velocity="1.0" lower="-1.5708" upper="1.48353" />
        <axis xyz="0 1 0" />
    </joint>
    <joint name="jLeftElbow_rotz" type="revolute">
        <origin xyz="0 0 0" rpy="0 0 0"/>
        <parent link="LeftForeArm_f1"/>
        <child link="LeftForeArm"/>
        <dynamics damping="0.1" friction="0.0"/>
        <limit effort="30" velocity="1.0" lower="-2.53073" upper="0" />
        <axis xyz="0 0 1" />
    </joint>
	<joint name="jLeftWrist_rotx" type="revolute">
        <origin xyz="7.3e-05     0.22237           0" rpy="0 0 0"/>
        <parent link="LeftForeArm"/>
        <child link="LeftHand_f1"/>
        <dynamics damping="0.1" friction="0.0"/>
        <limit effort="30" velocity="1.0" lower="-1.0472" upper="0.872665" />
        <axis xyz="1 0 0" />
    </joint>
	<joint name="jLeftWrist_rotz" type="revolute">
        <origin xyz="0 0 0" rpy="0 0 0"/>
        <parent link="LeftHand_f1"/>
        <child link="LeftHand"/>
        <dynamics damping="0.1" friction="0.0"/>
        <limit effort="30" velocity="1.0" lower="-0.349066" upper="0.523599" />
        <axis xyz="0 0 1" />
    </joint>
	<!--Chain from (16) to (19)-->
	<joint name="jRightHip_rotx" type="revolute">
        <origin xyz="4.4e-05   -0.081879    0.000436" rpy="0 0 0"/>
        <parent link="Pelvis"/>
        <child link="RightUpperLeg_f1"/>
        <dynamics damping="0.1" friction="0.0"/>
        <limit effort="30" velocity="1.0" lower="-0.523599" upper="0.785398" />
        <axis xyz="1 0 0" />
    </joint>
	<joint name="jRightHip_roty" type="revolute">
        <origin xyz="0 0 0" rpy="0 0 0"/>
        <parent link="RightUpperLeg_f1"/>
        <child link="RightUpperLeg_f2"/>
        <dynamics damping="0.1" friction="0.0"/>
        <limit effort="30" velocity="1.0" lower="-0.261799" upper="2.0944" />
        <axis xyz="0 1 0" />
    </joint>
    <joint name="jRightHip_rotz" type="revolute">
        <origin xyz="0 0 0" rpy="0 0 0"/>
        <parent link="RightUpperLeg_f2"/>
        <child link="RightUpperLeg"/>
        <dynamics damping="0.1" friction="0.0"/>
        <limit effort="30" velocity="1.0" lower="-0.785398" upper="0.785398" />
        <axis xyz="0 0 1" />
    </joint>
	<joint name="jRightKnee_roty" type="revolute">
        <origin xyz="6.7e-05           0    -0.45113" rpy="0 0 0"/>
        <parent link="RightUpperLeg"/>
        <child link="RightLowerLeg_f1"/>
        <dynamics damping="0.1" friction="0.0"/>
        <limit effort="30" velocity="1.0" lower="0" upper="2.35619" />
        <axis xyz="0 1 0" />
    </joint>
	<joint name="jRightKnee_rotz" type="revolute">
        <origin xyz="0 0 0" rpy="0 0 0"/>
        <parent link="RightLowerLeg_f1"/>
        <child link="RightLowerLeg"/>
        <dynamics damping="0.1" friction="0.0"/>
        <limit effort="30" velocity="1.0" lower="-0.698132" upper="0.523599" />
        <axis xyz="0 0 1" />
    </joint>
	<joint name="jRightAnkle_rotx" type="revolute">
        <origin xyz="0.000289           0    -0.40628" rpy="0 0 0"/>
        <parent link="RightLowerLeg"/>
        <child link="RightFoot_f1"/>
        <dynamics damping="0.1" friction="0.0"/>
        <limit effort="30" velocity="1.0" lower="-0.610865" upper="0.785398" />
        <axis xyz="1 0 0" />
    </joint>
	<joint name="jRightAnkle_roty" type="revolute">
        <origin xyz="0 0 0" rpy="0 0 0"/>
        <parent link="RightFoot_f1"/>
        <child link="RightFoot_f2"/>
        <dynamics damping="0.1" friction="0.0"/>
        <limit effort="30" velocity="1.0" lower="-0.523599" upper="0.872665" />
        <axis xyz="0 1 0" />
    </joint>
    <joint name="jRightAnkle_rotz" type="revolute">
        <origin xyz="0 0 0" rpy="0 0 0"/>
        <parent link="RightFoot_f2"/>
        <child link="RightFoot"/>
        <dynamics damping="0.1" friction="0.0"/>
        <limit effort="30" velocity="1.0" lower="-0.436332" upper="0.872665" />
        <axis xyz="0 0 1" />
    </joint>
	<joint name="jRightBallFoot_roty" type="revolute">
        <origin xyz="0.14109           0    -0.10944" rpy="0 0 0"/>
        <parent link="RightFoot"/>
        <child link="RightToe"/>
        <dynamics damping="0.1" friction="0.0"/>
        <limit effort="30" velocity="1.0" lower="-0.174533" upper="1.5708" />
        <axis xyz="0 1 0" />
    </joint>
	<!--Chain from (20) to (23)-->
	<joint name="jLeftHip_rotx" type="revolute">
        <origin xyz="4.4e-05    0.081879    0.000436" rpy="0 0 0"/>
        <parent link="Pelvis"/>
        <child link="LeftUpperLeg_f1"/>
        <dynamics damping="0.1" friction="0.0"/>
        <limit effort="30" velocity="1.0" lower="-0.523599" upper="0.785398" />
        <axis xyz="1 0 0" />
    </joint>
	<joint name="jLeftHip_roty" type="revolute">
        <origin xyz="0 0 0" rpy="0 0 0"/>
        <parent link="LeftUpperLeg_f1"/>
        <child link="LeftUpperLeg_f2"/>
        <dynamics damping="0.1" friction="0.0"/>
        <limit effort="30" velocity="1.0" lower="-0.261799" upper="2.0944" />
        <axis xyz="0 1 0" />
    </joint>
    <joint name="jLeftHip_rotz" type="revolute">
        <origin xyz="0 0 0" rpy="0 0 0"/>
        <parent link="LeftUpperLeg_f2"/>
        <child link="LeftUpperLeg"/>
        <dynamics damping="0.1" friction="0.0"/>
        <limit effort="30" velocity="1.0" lower="-0.785398" upper="0.785398" />
        <axis xyz="0 0 1" />
    </joint>
	<joint name="jLeftKnee_roty" type="revolute">
        <origin xyz="6.7e-05           0    -0.45113" rpy="0 0 0"/>
        <parent link="LeftUpperLeg"/>
        <child link="LeftLowerLeg_f1"/>
        <dynamics damping="0.1" friction="0.0"/>
        <limit effort="30" velocity="1.0" lower="0" upper="2.35619" />
        <axis xyz="0 1 0" />
    </joint>
    <joint name="jLeftKnee_rotz" type="revolute">
        <origin xyz="0 0 0" rpy="0 0 0"/>
        <parent link="LeftLowerLeg_f1"/>
        <child link="LeftLowerLeg"/>
        <dynamics damping="0.1" friction="0.0"/>
        <limit effort="30" velocity="1.0" lower="-0.523599" upper="0.698132" />
        <axis xyz="0 0 1" />
    </joint>
	<joint name="jLeftAnkle_rotx" type="revolute">
        <origin xyz="0.000289           0    -0.40628" rpy="0 0 0"/>
        <parent link="LeftLowerLeg"/>
        <child link="LeftFoot_f1"/>
        <dynamics damping="0.1" friction="0.0"/>
        <limit effort="30" velocity="1.0" lower="-0.610865" upper="0.785398" />
        <axis xyz="1 0 0" />
    </joint>
	<joint name="jLeftAnkle_roty" type="revolute">
        <origin xyz="0 0 0" rpy="0 0 0"/>
        <parent link="LeftFoot_f1"/>
        <child link="LeftFoot_f2"/>
        <dynamics damping="0.1" friction="0.0"/>
        <limit effort="30" velocity="1.0" lower="-0.523599" upper="0.872665" />
        <axis xyz="0 1 0" />
    </joint>
    <joint name="jLeftAnkle_rotz" type="revolute">
        <origin xyz="0 0 0" rpy="0 0 0"/>
        <parent link="LeftFoot_f2"/>
        <child link="LeftFoot"/>
        <dynamics damping="0.1" friction="0.0"/>
        <limit effort="30" velocity="1.0" lower="-0.872665" upper="0.436332" />
        <axis xyz="0 0 1" />
    </joint>
	<joint name="jLeftBallFoot_roty" type="revolute">
        <origin xyz="0.14109           0    -0.10944" rpy="0 0 0"/>
        <parent link="LeftFoot"/>
        <child link="LeftToe"/>
        <dynamics damping="0.1" friction="0.0"/>
        <limit effort="30" velocity="1.0" lower="-0.174533" upper="1.5708" />
        <axis xyz="0 1 0" />
    </joint>

	<!--Insert sensors here, if any.-->

</robot>


</robot>
